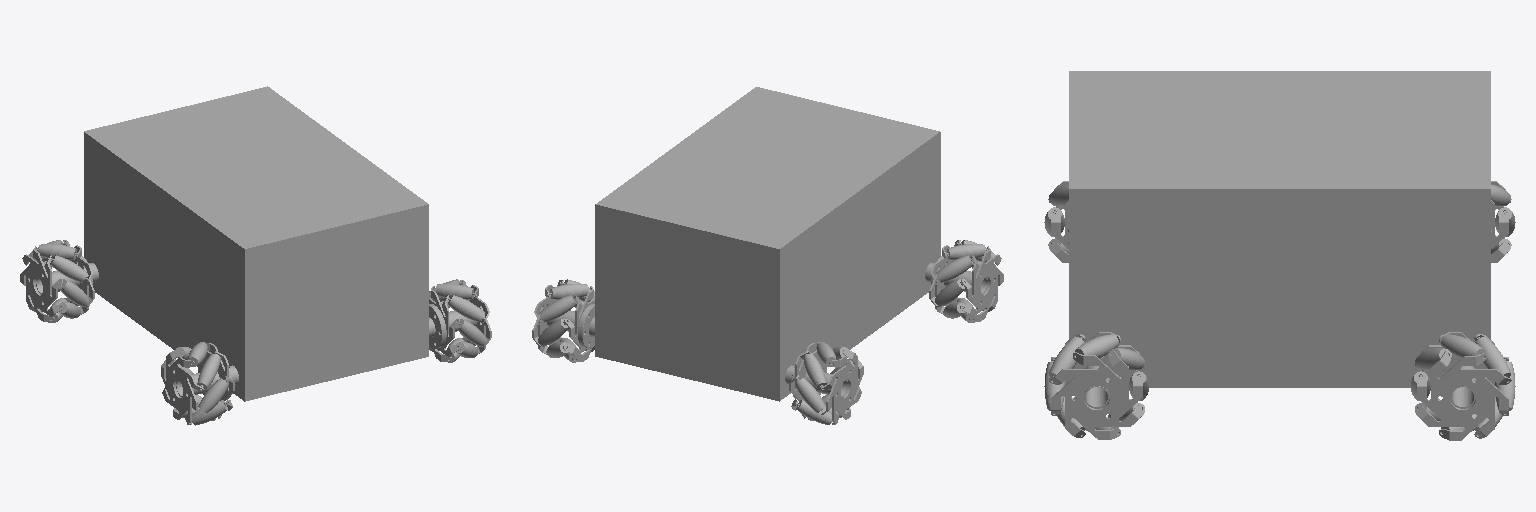
--- Facts derived from the render (not from the file) ---
The picture shows the robot from 3 angles, left to right: view 1: azimuth 30°, elevation 25°; view 2: azimuth 150°, elevation 25°; view 3: azimuth 270°, elevation 25°; orthographic projection.
Model mecanum_simple with 81 links and 80 joints (36 continuous, 44 fixed), rooted at base_link, posed every joint at zero.
Visible links, largest first — view 1: base_link, FL_BotPlate1, BL_BotPlate1, BR_TopPlate1, BR_TopBase1, BL_TopPlate1, FL_TopPlate1, BR_BotPlate1, FL_Wheel3, BL_Wheel5, BR_Wheel8; view 2: base_link, BL_BotPlate1, FL_BotPlate1, FR_TopPlate1, FR_TopBase1, FL_TopPlate1, FR_BotPlate1, BL_TopPlate1, BL_Wheel1, FR_Wheel4; view 3: base_link, FR_BotPlate1, BR_BotPlate1, BL_TopPlate1, FL_TopPlate1, FR_Wheel3, BR_Wheel1, FR_Wheel4, BR_Wheel8, BR_MC1, FR_MC1.
Boxes of the visible links, left/top/right/bottom form: base_link: left=84, top=86, right=428, bottom=401; FL_BotPlate1: left=20, top=246, right=63, bottom=322; BL_BotPlate1: left=161, top=349, right=203, bottom=424; BR_TopPlate1: left=429, top=286, right=460, bottom=362; BR_TopBase1: left=429, top=304, right=446, bottom=348; BL_TopPlate1: left=198, top=342, right=234, bottom=418; FL_TopPlate1: left=63, top=240, right=94, bottom=314; BR_BotPlate1: left=460, top=280, right=491, bottom=353; FL_Wheel3: left=50, top=255, right=87, bottom=282; BL_Wheel5: left=198, top=378, right=228, bottom=413; BR_Wheel8: left=448, top=295, right=484, bottom=321; base_link: left=595, top=87, right=940, bottom=401; BL_BotPlate1: left=960, top=246, right=1003, bottom=322; FL_BotPlate1: left=820, top=349, right=863, bottom=424; FR_TopPlate1: left=563, top=286, right=594, bottom=362; FR_TopBase1: left=578, top=304, right=594, bottom=348; FL_TopPlate1: left=789, top=342, right=826, bottom=418; FR_BotPlate1: left=532, top=280, right=563, bottom=354; BL_TopPlate1: left=929, top=240, right=960, bottom=314; BL_Wheel1: left=936, top=255, right=973, bottom=282; FR_Wheel4: left=539, top=295, right=576, bottom=321; base_link: left=1069, top=71, right=1490, bottom=387; FR_BotPlate1: left=1415, top=351, right=1511, bottom=440; BR_BotPlate1: left=1049, top=350, right=1144, bottom=439; BL_TopPlate1: left=1048, top=200, right=1068, bottom=262; FL_TopPlate1: left=1491, top=200, right=1511, bottom=262; FR_Wheel3: left=1441, top=334, right=1484, bottom=358; BR_Wheel1: left=1075, top=334, right=1118, bottom=357; FR_Wheel4: left=1475, top=336, right=1510, bottom=377; BR_Wheel8: left=1049, top=336, right=1084, bottom=376; BR_MC1: left=1083, top=366, right=1110, bottom=410; FR_MC1: left=1449, top=366, right=1476, bottom=410.
Bounding box of the posed robot: 0.244 × 0.2573 × 0.1336 m (x, y, z).
Meshes: 81 distinct files referenced, 81 mesh visuals loaded (81 binary STL).

URDF robot description (mecanum_simple):
<?xml version="1.0" ?>
<robot name="mecanum_simple">

<material name="silver">
  <color rgba="0.700 0.700 0.700 1.000"/>
</material>

<link name="base_link">
  <inertial>
    <origin rpy="0 0 0" xyz="0.0005909191525296898 0.0002815302172865053 0.060434726896290675"/>
    <mass value="3.7505087999999995"/>
    <inertia ixx="0.021034103519999944" ixy="-4.488109950145317e-18" ixz="-3.0899761915836876e-18" iyy="0.0117215901696" iyz="-1.2034644114589099e-17" izz="0.023754472569600033"/>
  </inertial>
  <visual>
    <origin rpy="0 0 0" xyz="0 0 0"/>
    <geometry>
      <mesh filename="meshes/base_link.stl" scale="0.001 0.001 0.001"/>
    </geometry>
    <material name="silver"/>
  </visual>
  <collision>
    <origin rpy="0 0 0" xyz="0 0 0"/>
    <geometry>
      <mesh filename="meshes/base_link.stl" scale="0.001 0.001 0.001"/>
    </geometry>
  </collision>
</link>

<link name="BR_TopBase1">
  <inertial>
    <origin rpy="0 0 0" xyz="0.00994768220155505 -4.6978271343867117e-07 -2.731038689154919e-07"/>
    <mass value="0.03256785236020162"/>
    <inertia ixx="3.293257536155945e-06" ixy="-5.421010862427522e-20" ixz="4.1809546276472265e-18" iyy="2.085824973539546e-06" iyz="0.0" izz="2.0937591837579548e-06"/>
  </inertial>
  <visual>
    <origin rpy="0 0 0" xyz="-0.076591 0.099718 -0.015435"/>
    <geometry>
      <mesh filename="meshes/BR_TopBase1.stl" scale="0.001 0.001 0.001"/>
    </geometry>
    <material name="silver"/>
  </visual>
  <collision>
    <origin rpy="0 0 0" xyz="-0.076591 0.099718 -0.015435"/>
    <geometry>
      <mesh filename="meshes/BR_TopBase1.stl" scale="0.001 0.001 0.001"/>
    </geometry>
  </collision>
</link>

<link name="FR_TopBase1">
  <inertial>
    <origin rpy="0 0 0" xyz="0.009947682201554883 -4.697827135496935e-07 -2.731039464524271e-07"/>
    <mass value="0.03256785236020241"/>
    <inertia ixx="3.2932575078285613e-06" ixy="-5.421010862427522e-20" ixz="-4.2270332199778604e-17" iyy="2.085824987703292e-06" iyz="-2.0328790734103208e-20" izz="2.0937591412667706e-06"/>
  </inertial>
  <visual>
    <origin rpy="0 0 0" xyz="-0.076591 -0.100282 -0.015435"/>
    <geometry>
      <mesh filename="meshes/FR_TopBase1.stl" scale="0.001 0.001 0.001"/>
    </geometry>
    <material name="silver"/>
  </visual>
  <collision>
    <origin rpy="0 0 0" xyz="-0.076591 -0.100282 -0.015435"/>
    <geometry>
      <mesh filename="meshes/FR_TopBase1.stl" scale="0.001 0.001 0.001"/>
    </geometry>
  </collision>
</link>

<link name="BL_TopBase1">
  <inertial>
    <origin rpy="0 0 0" xyz="-0.00994784389649557 -4.697827135080601e-07 -2.7310347214780373e-07"/>
    <mass value="0.03256785236020241"/>
    <inertia ixx="3.2932575078286155e-06" ixy="-5.421010862427522e-20" ixz="-4.227710846335664e-17" iyy="2.0858249877032378e-06" iyz="6.776263578034403e-21" izz="2.093759141266879e-06"/>
  </inertial>
  <visual>
    <origin rpy="0 0 0" xyz="0.075409 0.099718 -0.015435"/>
    <geometry>
      <mesh filename="meshes/BL_TopBase1.stl" scale="0.001 0.001 0.001"/>
    </geometry>
    <material name="silver"/>
  </visual>
  <collision>
    <origin rpy="0 0 0" xyz="0.075409 0.099718 -0.015435"/>
    <geometry>
      <mesh filename="meshes/BL_TopBase1.stl" scale="0.001 0.001 0.001"/>
    </geometry>
  </collision>
</link>

<link name="BR_BotPlate1">
  <inertial>
    <origin rpy="0 0 0" xyz="0.00044518063342811887 -4.6978271343867117e-07 -2.731036140880827e-07"/>
    <mass value="0.01754644089903354"/>
    <inertia ixx="6.011200641298952e-06" ixy="2.710505431213761e-20" ixz="-5.082197683525802e-19" iyy="3.0246761850076347e-06" iyz="1.2536087619363645e-19" izz="3.0246761926018204e-06"/>
  </inertial>
  <visual>
    <origin rpy="0 0 0" xyz="-0.120591 0.099718 -0.015435"/>
    <geometry>
      <mesh filename="meshes/BR_BotPlate1.stl" scale="0.001 0.001 0.001"/>
    </geometry>
    <material name="silver"/>
  </visual>
  <collision>
    <origin rpy="0 0 0" xyz="-0.120591 0.099718 -0.015435"/>
    <geometry>
      <mesh filename="meshes/BR_BotPlate1.stl" scale="0.001 0.001 0.001"/>
    </geometry>
  </collision>
</link>

<link name="BR_MC1">
  <inertial>
    <origin rpy="0 0 0" xyz="0.015999919152529546 -4.6978271343867117e-07 -2.7310370931225847e-07"/>
    <mass value="0.013862723690121977"/>
    <inertia ixx="6.520210928174543e-07" ixy="0.0" ixz="1.061467808181199e-16" iyy="1.3461378726247722e-06" iyz="3.3881317890172014e-21" izz="1.3461378573305827e-06"/>
  </inertial>
  <visual>
    <origin rpy="0 0 0" xyz="-0.090591 0.099718 -0.015435"/>
    <geometry>
      <mesh filename="meshes/BR_MC1.stl" scale="0.001 0.001 0.001"/>
    </geometry>
    <material name="silver"/>
  </visual>
  <collision>
    <origin rpy="0 0 0" xyz="-0.090591 0.099718 -0.015435"/>
    <geometry>
      <mesh filename="meshes/BR_MC1.stl" scale="0.001 0.001 0.001"/>
    </geometry>
  </collision>
</link>

<link name="BR_TopPlate1">
  <inertial>
    <origin rpy="0 0 0" xyz="0.0010546576716314315 -4.6978293749555533e-07 -2.7310393341424544e-07"/>
    <mass value="0.017546440899036727"/>
    <inertia ixx="6.011200624552447e-06" ixy="1.1980434005964824e-17" ixz="1.1966881478808755e-17" iyy="3.02467618043138e-06" iyz="-1.2950849160447975e-14" izz="3.024676180431651e-06"/>
  </inertial>
  <visual>
    <origin rpy="0 0 0" xyz="-0.090591 0.099718 -0.015435"/>
    <geometry>
      <mesh filename="meshes/BR_TopPlate1.stl" scale="0.001 0.001 0.001"/>
    </geometry>
    <material name="silver"/>
  </visual>
  <collision>
    <origin rpy="0 0 0" xyz="-0.090591 0.099718 -0.015435"/>
    <geometry>
      <mesh filename="meshes/BR_TopPlate1.stl" scale="0.001 0.001 0.001"/>
    </geometry>
  </collision>
</link>

<link name="FR_BotPlate1">
  <inertial>
    <origin rpy="0 0 0" xyz="-0.001054819366572285 -4.697827134941823e-07 -2.7310339236787107e-07"/>
    <mass value="0.017546440899036706"/>
    <inertia ixx="6.011200624552447e-06" ixy="-2.710505431213761e-20" ixz="1.691355389077387e-17" iyy="3.0246761933822833e-06" iyz="-1.1180834903756764e-19" izz="3.0246761674806934e-06"/>
  </inertial>
  <visual>
    <origin rpy="0 0 0" xyz="-0.122591 -0.100282 -0.015435"/>
    <geometry>
      <mesh filename="meshes/FR_BotPlate1.stl" scale="0.001 0.001 0.001"/>
    </geometry>
    <material name="silver"/>
  </visual>
  <collision>
    <origin rpy="0 0 0" xyz="-0.122591 -0.100282 -0.015435"/>
    <geometry>
      <mesh filename="meshes/FR_BotPlate1.stl" scale="0.001 0.001 0.001"/>
    </geometry>
  </collision>
</link>

<link name="FR_MC1">
  <inertial>
    <origin rpy="0 0 0" xyz="0.015999919152529546 -4.697827135080601e-07 -2.731037093226668e-07"/>
    <mass value="0.013862723690121977"/>
    <inertia ixx="6.520210928174272e-07" ixy="0.0" ixz="-1.0614339268633088e-16" iyy="1.3461378726247722e-06" iyz="0.0" izz="1.3461378573306369e-06"/>
  </inertial>
  <visual>
    <origin rpy="0 0 0" xyz="-0.090591 -0.100282 -0.015435"/>
    <geometry>
      <mesh filename="meshes/FR_MC1.stl" scale="0.001 0.001 0.001"/>
    </geometry>
    <material name="silver"/>
  </visual>
  <collision>
    <origin rpy="0 0 0" xyz="-0.090591 -0.100282 -0.015435"/>
    <geometry>
      <mesh filename="meshes/FR_MC1.stl" scale="0.001 0.001 0.001"/>
    </geometry>
  </collision>
</link>

<link name="FR_TopPlate1">
  <inertial>
    <origin rpy="0 0 0" xyz="0.0010546576716310013 -4.697826461314003e-07 -2.7310377668718355e-07"/>
    <mass value="0.017546440899033542"/>
    <inertia ixx="6.011200641298952e-06" ixy="3.7947076036992655e-19" ixz="-3.6253010142484055e-19" iyy="3.024676188804592e-06" iyz="-3.7970657434244215e-15" izz="3.02467618880489e-06"/>
  </inertial>
  <visual>
    <origin rpy="0 0 0" xyz="-0.090591 -0.100282 -0.015435"/>
    <geometry>
      <mesh filename="meshes/FR_TopPlate1.stl" scale="0.001 0.001 0.001"/>
    </geometry>
    <material name="silver"/>
  </visual>
  <collision>
    <origin rpy="0 0 0" xyz="-0.090591 -0.100282 -0.015435"/>
    <geometry>
      <mesh filename="meshes/FR_TopPlate1.stl" scale="0.001 0.001 0.001"/>
    </geometry>
  </collision>
</link>

<link name="BL_BotPlate1">
  <inertial>
    <origin rpy="0 0 0" xyz="0.0010546576716316675 -4.697827134941823e-07 -2.731040262445028e-07"/>
    <mass value="0.017546440899036706"/>
    <inertia ixx="6.011200624552474e-06" ixy="0.0" ixz="1.6906777627195835e-17" iyy="3.0246761933822833e-06" iyz="1.0164395367051604e-19" izz="3.0246761674806934e-06"/>
  </inertial>
  <visual>
    <origin rpy="0 0 0" xyz="0.121409 0.099718 -0.015435"/>
    <geometry>
      <mesh filename="meshes/BL_BotPlate1.stl" scale="0.001 0.001 0.001"/>
    </geometry>
    <material name="silver"/>
  </visual>
  <collision>
    <origin rpy="0 0 0" xyz="0.121409 0.099718 -0.015435"/>
    <geometry>
      <mesh filename="meshes/BL_BotPlate1.stl" scale="0.001 0.001 0.001"/>
    </geometry>
  </collision>
</link>

<link name="BL_MC1">
  <inertial>
    <origin rpy="0 0 0" xyz="-0.01600008084747015 -4.697827134941823e-07 -2.7310370928797234e-07"/>
    <mass value="0.013862723690121977"/>
    <inertia ixx="6.520210928175085e-07" ixy="-2.710505431213761e-20" ixz="-1.0614339268633088e-16" iyy="1.3461378726247993e-06" iyz="3.3881317890172014e-21" izz="1.3461378573307453e-06"/>
  </inertial>
  <visual>
    <origin rpy="0 0 0" xyz="0.089409 0.099718 -0.015435"/>
    <geometry>
      <mesh filename="meshes/BL_MC1.stl" scale="0.001 0.001 0.001"/>
    </geometry>
    <material name="silver"/>
  </visual>
  <collision>
    <origin rpy="0 0 0" xyz="0.089409 0.099718 -0.015435"/>
    <geometry>
      <mesh filename="meshes/BL_MC1.stl" scale="0.001 0.001 0.001"/>
    </geometry>
  </collision>
</link>

<link name="BL_TopPlate1">
  <inertial>
    <origin rpy="0 0 0" xyz="-0.001054819366571591 -4.697826461314003e-07 -2.7310364192692504e-07"/>
    <mass value="0.017546440899033542"/>
    <inertia ixx="6.011200641299006e-06" ixy="-3.5236570605778894e-19" ixz="-3.6253010142484055e-19" iyy="3.024676188804565e-06" iyz="3.7970623552926325e-15" izz="3.0246761888047817e-06"/>
  </inertial>
  <visual>
    <origin rpy="0 0 0" xyz="0.089409 0.099718 -0.015435"/>
    <geometry>
      <mesh filename="meshes/BL_TopPlate1.stl" scale="0.001 0.001 0.001"/>
    </geometry>
    <material name="silver"/>
  </visual>
  <collision>
    <origin rpy="0 0 0" xyz="0.089409 0.099718 -0.015435"/>
    <geometry>
      <mesh filename="meshes/BL_TopPlate1.stl" scale="0.001 0.001 0.001"/>
    </geometry>
  </collision>
</link>

<link name="BL_Wheel1">
  <inertial>
    <origin rpy="0 0 0" xyz="2.8872954611902646e-07 -4.284775861340684e-07 -2.949242297045629e-07"/>
    <mass value="0.00200707511610326"/>
    <inertia ixx="6.836045282378799e-08" ixy="-2.8942271813506932e-08" ixz="2.8942271812901304e-08" iyy="8.882572947765241e-08" iyz="2.046527665846212e-08" izz="8.882572948038664e-08"/>
  </inertial>
  <visual>
    <origin rpy="0 0 0" xyz="0.105408 0.083435 -0.03172"/>
    <geometry>
      <mesh filename="meshes/BL_Wheel1.stl" scale="0.001 0.001 0.001"/>
    </geometry>
    <material name="silver"/>
  </visual>
  <collision>
    <origin rpy="0 0 0" xyz="0.105408 0.083435 -0.03172"/>
    <geometry>
      <mesh filename="meshes/BL_Wheel1.stl" scale="0.001 0.001 0.001"/>
    </geometry>
  </collision>
</link>

<link name="BL_Wheel4">
  <inertial>
    <origin rpy="0 0 0" xyz="2.8872953872216556e-07 -4.4796225126542133e-07 -2.3179864057365496e-07"/>
    <mass value="0.00200707511610326"/>
    <inertia ixx="6.836045281984082e-08" ixy="-2.8942271811308035e-08" ixz="-2.8942271809144713e-08" iyy="8.882572948144035e-08" iyz="-2.046527666463106e-08" izz="8.882572947974967e-08"/>
  </inertial>
  <visual>
    <origin rpy="0 0 0" xyz="0.105408 0.116003 -0.031718"/>
    <geometry>
      <mesh filename="meshes/BL_Wheel4.stl" scale="0.001 0.001 0.001"/>
    </geometry>
    <material name="silver"/>
  </visual>
  <collision>
    <origin rpy="0 0 0" xyz="0.105408 0.116003 -0.031718"/>
    <geometry>
      <mesh filename="meshes/BL_Wheel4.stl" scale="0.001 0.001 0.001"/>
    </geometry>
  </collision>
</link>

<link name="BL_Wheel3">
  <inertial>
    <origin rpy="0 0 0" xyz="2.88729535946608e-07 1.606402623283154e-07 -2.056763390989591e-07"/>
    <mass value="0.00200707511610326"/>
    <inertia ixx="6.836045282228366e-08" ixy="-4.093055332137624e-08" ixz="2.507217523872729e-18" iyy="6.836045281667969e-08" iyz="-4.424900116456465e-18" izz="1.0929100614034292e-07"/>
  </inertial>
  <visual>
    <origin rpy="0 0 0" xyz="0.105408 0.09972 -0.038464"/>
    <geometry>
      <mesh filename="meshes/BL_Wheel3.stl" scale="0.001 0.001 0.001"/>
    </geometry>
    <material name="silver"/>
  </visual>
  <collision>
    <origin rpy="0 0 0" xyz="0.105408 0.09972 -0.038464"/>
    <geometry>
      <mesh filename="meshes/BL_Wheel3.stl" scale="0.001 0.001 0.001"/>
    </geometry>
  </collision>
</link>

<link name="BL_Wheel7">
  <inertial>
    <origin rpy="0 0 0" xyz="2.8872954774272763e-07 -1.0020569084223663e-07 -3.405310417458826e-07"/>
    <mass value="0.00200707511610326"/>
    <inertia ixx="6.836045281808238e-08" ixy="4.093055332201321e-08" ixz="-3.4622471719019526e-18" iyy="6.836045282203294e-08" iyz="-3.089764433346874e-18" izz="1.0929100614064108e-07"/>
  </inertial>
  <visual>
    <origin rpy="0 0 0" xyz="0.105408 0.099717 0.007594"/>
    <geometry>
      <mesh filename="meshes/BL_Wheel7.stl" scale="0.001 0.001 0.001"/>
    </geometry>
    <material name="silver"/>
  </visual>
  <collision>
    <origin rpy="0 0 0" xyz="0.105408 0.099717 0.007594"/>
    <geometry>
      <mesh filename="meshes/BL_Wheel7.stl" scale="0.001 0.001 0.001"/>
    </geometry>
  </collision>
</link>

<link name="BL_Wheel8">
  <inertial>
    <origin rpy="0 0 0" xyz="2.8872955556979996e-07 -4.0235530036902833e-07 9.647331486277444e-08"/>
    <mass value="0.00200707511610326"/>
    <inertia ixx="6.836045281811965e-08" ixy="-4.099639464710814e-18" ixz="4.09305533213521e-08" iyy="1.0929100614194212e-07" iyz="-1.6237621598864937e-18" izz="6.836045282068107e-08"/>
  </inertial>
  <visual>
    <origin rpy="0 0 0" xyz="0.105408 0.076689 -0.015436"/>
    <geometry>
      <mesh filename="meshes/BL_Wheel8.stl" scale="0.001 0.001 0.001"/>
    </geometry>
    <material name="silver"/>
  </visual>
  <collision>
    <origin rpy="0 0 0" xyz="0.105408 0.076689 -0.015436"/>
    <geometry>
      <mesh filename="meshes/BL_Wheel8.stl" scale="0.001 0.001 0.001"/>
    </geometry>
  </collision>
</link>

<link name="BL_Wheel2">
  <inertial>
    <origin rpy="0 0 0" xyz="2.8872955896985797e-07 4.889121586332257e-07 -2.512831809383829e-07"/>
    <mass value="0.00200707511610326"/>
    <inertia ixx="6.83604528227309e-08" ixy="2.894227180948522e-08" ixz="-2.8942271815342876e-08" iyy="8.882572948094907e-08" iyz="2.0465276659479617e-08" izz="8.882572947638186e-08"/>
  </inertial>
  <visual>
    <origin rpy="0 0 0" xyz="0.105408 0.116002 0.00085"/>
    <geometry>
      <mesh filename="meshes/BL_Wheel2.stl" scale="0.001 0.001 0.001"/>
    </geometry>
    <material name="silver"/>
  </visual>
  <collision>
    <origin rpy="0 0 0" xyz="0.105408 0.116002 0.00085"/>
    <geometry>
      <mesh filename="meshes/BL_Wheel2.stl" scale="0.001 0.001 0.001"/>
    </geometry>
  </collision>
</link>

<link name="BL_Wheel5">
  <inertial>
    <origin rpy="0 0 0" xyz="2.887295618841934e-07 4.6278986785830423e-07 3.573192609920839e-07"/>
    <mass value="0.00200707511610326"/>
    <inertia ixx="6.83604528217856e-08" ixy="1.5788694136820158e-18" ixz="-4.093055332151177e-08" iyy="1.0929100614123061e-07" iyz="-4.381701436146496e-18" izz="6.83604528172184e-08"/>
  </inertial>
  <visual>
    <origin rpy="0 0 0" xyz="0.105408 0.122748 -0.015433"/>
    <geometry>
      <mesh filename="meshes/BL_Wheel5.stl" scale="0.001 0.001 0.001"/>
    </geometry>
    <material name="silver"/>
  </visual>
  <collision>
    <origin rpy="0 0 0" xyz="0.105408 0.122748 -0.015433"/>
    <geometry>
      <mesh filename="meshes/BL_Wheel5.stl" scale="0.001 0.001 0.001"/>
    </geometry>
  </collision>
</link>

<link name="BL_Wheel6">
  <inertial>
    <origin rpy="0 0 0" xyz="2.8872954931091765e-07 -4.91603187449674e-07 -3.1440884254755556e-07"/>
    <mass value="0.00200707511610326"/>
    <inertia ixx="6.836045281471457e-08" ixy="2.894227181135547e-08" ixz="2.8942271808835254e-08" iyy="8.882572948395773e-08" iyz="-2.046527666218324e-08" izz="8.88257294823653e-08"/>
  </inertial>
  <visual>
    <origin rpy="0 0 0" xyz="0.105408 0.083433 0.000848"/>
    <geometry>
      <mesh filename="meshes/BL_Wheel6.stl" scale="0.001 0.001 0.001"/>
    </geometry>
    <material name="silver"/>
  </visual>
  <collision>
    <origin rpy="0 0 0" xyz="0.105408 0.083433 0.000848"/>
    <geometry>
      <mesh filename="meshes/BL_Wheel6.stl" scale="0.001 0.001 0.001"/>
    </geometry>
  </collision>
</link>

<link name="BL_Roller6">
  <inertial>
    <origin rpy="0 0 0" xyz="-0.010941711270487112 0.007737508396761392 0.007736685591157984"/>
    <mass value="0.00027476500689675335"/>
    <inertia ixx="1.1002606496522147e-08" ixy="7.745045789260402e-09" ixz="7.74504579228148e-09" iyy="1.6479180894728568e-08" iyz="-5.476574400315639e-09" izz="1.6479180899001002e-08"/>
  </inertial>
  <visual>
    <origin rpy="0 0 0" xyz="0.094466 0.091171 0.008585"/>
    <geometry>
      <mesh filename="meshes/BL_Roller6.stl" scale="0.001 0.001 0.001"/>
    </geometry>
    <material name="silver"/>
  </visual>
  <collision>
    <origin rpy="0 0 0" xyz="0.094466 0.091171 0.008585"/>
    <geometry>
      <mesh filename="meshes/BL_Roller6.stl" scale="0.001 0.001 0.001"/>
    </geometry>
  </collision>
</link>

<link name="FR_Wheel1">
  <inertial>
    <origin rpy="0 0 0" xyz="-4.5042449572929577e-07 -4.2847758016661963e-07 -2.5128318168442243e-07"/>
    <mass value="0.00200707511610326"/>
    <inertia ixx="6.836045281745218e-08" ixy="2.8942271811379186e-08" ixz="2.8942271809163506e-08" iyy="8.882572948122689e-08" iyz="-2.0465276663854516e-08" izz="8.882572948359859e-08"/>
  </inertial>
  <visual>
    <origin rpy="0 0 0" xyz="-0.10659 -0.116565 0.00085"/>
    <geometry>
      <mesh filename="meshes/FR_Wheel1.stl" scale="0.001 0.001 0.001"/>
    </geometry>
    <material name="silver"/>
  </visual>
  <collision>
    <origin rpy="0 0 0" xyz="-0.10659 -0.116565 0.00085"/>
    <geometry>
      <mesh filename="meshes/FR_Wheel1.stl" scale="0.001 0.001 0.001"/>
    </geometry>
  </collision>
</link>

<link name="FR_Wheel8">
  <inertial>
    <origin rpy="0 0 0" xyz="-4.504244925235268e-07 1.606402632581272e-07 -3.40531079235859e-07"/>
    <mass value="0.00200707511610326"/>
    <inertia ixx="6.836045281957654e-08" ixy="4.0930553321427064e-08" ixz="-5.1243375726517035e-18" iyy="6.83604528194478e-08" iyz="-1.659549301907988e-18" izz="1.0929100614356165e-07"/>
  </inertial>
  <visual>
    <origin rpy="0 0 0" xyz="-0.10659 -0.10028 0.007594"/>
    <geometry>
      <mesh filename="meshes/FR_Wheel8.stl" scale="0.001 0.001 0.001"/>
    </geometry>
    <material name="silver"/>
  </visual>
  <collision>
    <origin rpy="0 0 0" xyz="-0.10659 -0.10028 0.007594"/>
    <geometry>
      <mesh filename="meshes/FR_Wheel8.stl" scale="0.001 0.001 0.001"/>
    </geometry>
  </collision>
</link>

<link name="FR_Wheel7">
  <inertial>
    <origin rpy="0 0 0" xyz="-4.5042450226573383e-07 -4.4796225638632503e-07 -3.1440884208579385e-07"/>
    <mass value="0.00200707511610326"/>
    <inertia ixx="6.836045282348984e-08" ixy="2.894227181097261e-08" ixz="-2.8942271814858823e-08" iyy="8.88257294785977e-08" iyz="2.0465276659587164e-08" izz="8.882572948027822e-08"/>
  </inertial>
  <visual>
    <origin rpy="0 0 0" xyz="-0.10659 -0.083997 0.000848"/>
    <geometry>
      <mesh filename="meshes/FR_Wheel7.stl" scale="0.001 0.001 0.001"/>
    </geometry>
    <material name="silver"/>
  </visual>
  <collision>
    <origin rpy="0 0 0" xyz="-0.10659 -0.083997 0.000848"/>
    <geometry>
      <mesh filename="meshes/FR_Wheel7.stl" scale="0.001 0.001 0.001"/>
    </geometry>
  </collision>
</link>

<link name="FR_Wheel6">
  <inertial>
    <origin rpy="0 0 0" xyz="-4.504245024045117e-07 4.6278985711689646e-07 9.647332033235756e-08"/>
    <mass value="0.00200707511610326"/>
    <inertia ixx="6.836045282228874e-08" ixy="3.3542504711270293e-18" ixz="-4.093055332256336e-08" iyy="1.0929100614094601e-07" iyz="-2.0006918214146574e-18" izz="6.836045281889214e-08"/>
  </inertial>
  <visual>
    <origin rpy="0 0 0" xyz="-0.10659 -0.077252 -0.015436"/>
    <geometry>
      <mesh filename="meshes/FR_Wheel6.stl" scale="0.001 0.001 0.001"/>
    </geometry>
    <material name="silver"/>
  </visual>
  <collision>
    <origin rpy="0 0 0" xyz="-0.10659 -0.077252 -0.015436"/>
    <geometry>
      <mesh filename="meshes/FR_Wheel6.stl" scale="0.001 0.001 0.001"/>
    </geometry>
  </collision>
</link>

<link name="FR_Wheel2">
  <inertial>
    <origin rpy="0 0 0" xyz="-4.5042449643706295e-07 -4.0235528905863127e-07 3.5731926674616166e-07"/>
    <mass value="0.00200707511610326"/>
    <inertia ixx="6.836045281892602e-08" ixy="-2.910405206765776e-18" ixz="4.093055332268914e-08" iyy="1.0929100614013963e-07" iyz="-2.8900764160316728e-18" izz="6.836045282237514e-08"/>
  </inertial>
  <visual>
    <origin rpy="0 0 0" xyz="-0.10659 -0.123311 -0.015433"/>
    <geometry>
      <mesh filename="meshes/FR_Wheel2.stl" scale="0.001 0.001 0.001"/>
    </geometry>
    <material name="silver"/>
  </visual>
  <collision>
    <origin rpy="0 0 0" xyz="-0.10659 -0.123311 -0.015433"/>
    <geometry>
      <mesh filename="meshes/FR_Wheel2.stl" scale="0.001 0.001 0.001"/>
    </geometry>
  </collision>
</link>

<link name="FR_Wheel4">
  <inertial>
    <origin rpy="0 0 0" xyz="-4.5042449700605225e-07 -4.91603179997302e-07 -2.3179856458582782e-07"/>
    <mass value="0.00200707511610326"/>
    <inertia ixx="6.83604528196748e-08" ixy="-2.894227181149777e-08" ixz="2.894227181363907e-08" iyy="8.882572947743219e-08" iyz="2.046527665774214e-08" izz="8.882572948364602e-08"/>
  </inertial>
  <visual>
    <origin rpy="0 0 0" xyz="-0.10659 -0.116567 -0.031718"/>
    <geometry>
      <mesh filename="meshes/FR_Wheel4.stl" scale="0.001 0.001 0.001"/>
    </geometry>
    <material name="silver"/>
  </visual>
  <collision>
    <origin rpy="0 0 0" xyz="-0.10659 -0.116567 -0.031718"/>
    <geometry>
      <mesh filename="meshes/FR_Wheel4.stl" scale="0.001 0.001 0.001"/>
    </geometry>
  </collision>
</link>

<link name="FR_Wheel5">
  <inertial>
    <origin rpy="0 0 0" xyz="-4.504244969366633e-07 4.889121533041552e-07 -2.9492417499138446e-07"/>
    <mass value="0.00200707511610326"/>
    <inertia ixx="6.836045281885826e-08" ixy="-2.894227180955976e-08" ixz="-2.8942271810975998e-08" iyy="8.882572948251777e-08" iyz="-2.0465276664240577e-08" izz="8.8825729480224e-08"/>
  </inertial>
  <visual>
    <origin rpy="0 0 0" xyz="-0.10659 -0.083998 -0.03172"/>
    <geometry>
      <mesh filename="meshes/FR_Wheel5.stl" scale="0.001 0.001 0.001"/>
    </geometry>
    <material name="silver"/>
  </visual>
  <collision>
    <origin rpy="0 0 0" xyz="-0.10659 -0.083998 -0.03172"/>
    <geometry>
      <mesh filename="meshes/FR_Wheel5.stl" scale="0.001 0.001 0.001"/>
    </geometry>
  </collision>
</link>

<link name="FR_Wheel3">
  <inertial>
    <origin rpy="0 0 0" xyz="-4.5042449686727437e-07 -1.002056898430359e-07 -2.0567628496170887e-07"/>
    <mass value="0.00200707511610326"/>
    <inertia ixx="6.836045281851267e-08" ixy="-4.0930553320973055e-08" ixz="1.1214716221646936e-18" iyy="6.836045281954266e-08" iyz="-3.884493096108221e-18" izz="1.0929100614314152e-07"/>
  </inertial>
  <visual>
    <origin rpy="0 0 0" xyz="-0.10659 -0.100283 -0.038464"/>
    <geometry>
      <mesh filename="meshes/FR_Wheel3.stl" scale="0.001 0.001 0.001"/>
    </geometry>
    <material name="silver"/>
  </visual>
  <collision>
    <origin rpy="0 0 0" xyz="-0.10659 -0.100283 -0.038464"/>
    <geometry>
      <mesh filename="meshes/FR_Wheel3.stl" scale="0.001 0.001 0.001"/>
    </geometry>
  </collision>
</link>

<link name="FR_Roller1">
  <inertial>
    <origin rpy="0 0 0" xyz="0.010941549575529688 -0.007737428477598951 -0.007737251283190282"/>
    <mass value="0.00027476500689675335"/>
    <inertia ixx="1.1002606497603808e-08" ixy="7.745045793033087e-09" ixz="7.745045790019532e-09" iyy="1.647918089846483e-08" iyz="-5.476574398720219e-09" izz="1.647918089418223e-08"/>
  </inertial>
  <visual>
    <origin rpy="0 0 0" xyz="-0.095648 -0.124302 -0.006887"/>
    <geometry>
      <mesh filename="meshes/FR_Roller1.stl" scale="0.001 0.001 0.001"/>
    </geometry>
    <material name="silver"/>
  </visual>
  <collision>
    <origin rpy="0 0 0" xyz="-0.095648 -0.124302 -0.006887"/>
    <geometry>
      <mesh filename="meshes/FR_Roller1.stl" scale="0.001 0.001 0.001"/>
    </geometry>
  </collision>
</link>

<link name="FR_Roller2">
  <inertial>
    <origin rpy="0 0 0" xyz="0.01094154957554834 -4.023552892390425e-07 -0.010941642680689362"/>
    <mass value="0.00027476500689675335"/>
    <inertia ixx="1.1002606495466744e-08" ixy="-5.505714157152952e-21" ixz="1.095314879744061e-08" iyy="2.1955755299315264e-08" iyz="5.61159327555974e-21" izz="1.1002606495466744e-08"/>
  </inertial>
  <visual>
    <origin rpy="0 0 0" xyz="-0.095648 -0.123311 -0.026375"/>
    <geometry>
      <mesh filename="meshes/FR_Roller2.stl" scale="0.001 0.001 0.001"/>
    </geometry>
    <material name="silver"/>
  </visual>
  <collision>
    <origin rpy="0 0 0" xyz="-0.095648 -0.123311 -0.026375"/>
    <geometry>
      <mesh filename="meshes/FR_Roller2.stl" scale="0.001 0.001 0.001"/>
    </geometry>
  </collision>
</link>

<link name="FR_Roller4">
  <inertial>
    <origin rpy="0 0 0" xyz="0.010941549575529716 0.007737508396839898 -0.007737231798522377"/>
    <mass value="0.00027476500689675335"/>
    <inertia ixx="1.1002606497601267e-08" ixy="-7.745045793039863e-09" ixz="7.745045790011508e-09" iyy="1.6479180898454666e-08" iyz="5.476574398720358e-09" izz="1.6479180894193243e-08"/>
  </inertial>
  <visual>
    <origin rpy="0 0 0" xyz="-0.095648 -0.108829 -0.039455"/>
    <geometry>
      <mesh filename="meshes/FR_Roller4.stl" scale="0.001 0.001 0.001"/>
    </geometry>
    <material name="silver"/>
  </visual>
  <collision>
    <origin rpy="0 0 0" xyz="-0.095648 -0.108829 -0.039455"/>
    <geometry>
      <mesh filename="meshes/FR_Roller4.stl" scale="0.001 0.001 0.001"/>
    </geometry>
  </collision>
</link>

<link name="FR_Roller3">
  <inertial>
    <origin rpy="0 0 0" xyz="0.010941549575504014 0.010941899794310733 -2.0567622230349691e-07"/>
    <mass value="0.00027476500689675335"/>
    <inertia ixx="1.1002606498670646e-08" ixy="-1.0953148800644619e-08" ixz="-5.717472393966527e-21" iyy="1.100260649867107e-08" iyz="-5.505714157152952e-21" izz="2.195575529290873e-08"/>
  </inertial>
  <visual>
    <origin rpy="0 0 0" xyz="-0.095648 -0.089341 -0.038464"/>
    <geometry>
      <mesh filename="meshes/FR_Roller3.stl" scale="0.001 0.001 0.001"/>
    </geometry>
    <material name="silver"/>
  </visual>
  <collision>
    <origin rpy="0 0 0" xyz="-0.095648 -0.089341 -0.038464"/>
    <geometry>
      <mesh filename="meshes/FR_Roller3.stl" scale="0.001 0.001 0.001"/>
    </geometry>
  </collision>
</link>

<link name="FR_Roller5">
  <inertial>
    <origin rpy="0 0 0" xyz="0.010941549575478465 0.007737488912135632 0.00773670507588026"/>
    <mass value="0.00027476500689675335"/>
    <inertia ixx="1.1002606497603384e-08" ixy="-7.745045793032663e-09" ixz="-7.74504579001945e-09" iyy="1.6479180898465677e-08" iyz="-5.476574398719723e-09" izz="1.647918089418308e-08"/>
  </inertial>
  <visual>
    <origin rpy="0 0 0" xyz="-0.095648 -0.076261 -0.023983"/>
    <geometry>
      <mesh filename="meshes/FR_Roller5.stl" scale="0.001 0.001 0.001"/>
    </geometry>
    <material name="silver"/>
  </visual>
  <collision>
    <origin rpy="0 0 0" xyz="-0.095648 -0.076261 -0.023983"/>
    <geometry>
      <mesh filename="meshes/FR_Roller5.stl" scale="0.001 0.001 0.001"/>
    </geometry>
  </collision>
</link>

<link name="FR_Roller6">
  <inertial>
    <origin rpy="0 0 0" xyz="0.010941549575453902 4.627898568532185e-07 0.010942096473365364"/>
    <mass value="0.00027476500689675335"/>
    <inertia ixx="1.1002606495467591e-08" ixy="5.505714157152952e-21" ixz="-1.0953148797440452e-08" iyy="2.195575529931611e-08" iyz="5.929230630780102e-21" izz="1.1002606495468438e-08"/>
  </inertial>
  <visual>
    <origin rpy="0 0 0" xyz="-0.095648 -0.077252 -0.004494"/>
    <geometry>
      <mesh filename="meshes/FR_Roller6.stl" scale="0.001 0.001 0.001"/>
    </geometry>
    <material name="silver"/>
  </visual>
  <collision>
    <origin rpy="0 0 0" xyz="-0.095648 -0.077252 -0.004494"/>
    <geometry>
      <mesh filename="meshes/FR_Roller6.stl" scale="0.001 0.001 0.001"/>
    </geometry>
  </collision>
</link>

<link name="FR_Roller7">
  <inertial>
    <origin rpy="0 0 0" xyz="0.01094154957547265 -0.007737447962238644 0.0077366855912127065"/>
    <mass value="0.00027476500689675335"/>
    <inertia ixx="1.1002606497603384e-08" ixy="7.745045793040287e-09" ixz="-7.745045790011383e-09" iyy="1.6479180898453395e-08" iyz="5.47657439872056e-09" izz="1.647918089419155e-08"/>
  </inertial>
  <visual>
    <origin rpy="0 0 0" xyz="-0.095648 -0.091734 0.008585"/>
    <geometry>
      <mesh filename="meshes/FR_Roller7.stl" scale="0.001 0.001 0.001"/>
    </geometry>
    <material name="silver"/>
  </visual>
  <collision>
    <origin rpy="0 0 0" xyz="-0.095648 -0.091734 0.008585"/>
    <geometry>
      <mesh filename="meshes/FR_Roller7.stl" scale="0.001 0.001 0.001"/>
    </geometry>
  </collision>
</link>

<link name="FR_Roller8">
  <inertial>
    <origin rpy="0 0 0" xyz="0.010941549575504153 -0.010941839359737929 -3.4053107091525786e-07"/>
    <mass value="0.00027476500689675335"/>
    <inertia ixx="1.1002606498672764e-08" ixy="1.0953148800644195e-08" ixz="5.4527745979495584e-21" iyy="1.1002606498671916e-08" iyz="-5.61159327555974e-21" izz="2.1955755292909578e-08"/>
  </inertial>
  <visual>
    <origin rpy="0 0 0" xyz="-0.095648 -0.111222 0.007594"/>
    <geometry>
      <mesh filename="meshes/FR_Roller8.stl" scale="0.001 0.001 0.001"/>
    </geometry>
    <material name="silver"/>
  </visual>
  <collision>
    <origin rpy="0 0 0" xyz="-0.095648 -0.111222 0.007594"/>
    <geometry>
      <mesh filename="meshes/FR_Roller8.stl" scale="0.001 0.001 0.001"/>
    </geometry>
  </collision>
</link>

<link name="BL_Roller7">
  <inertial>
    <origin rpy="0 0 0" xyz="-0.010941711270490942 0.010941899794264617 -3.405311333878544e-07"/>
    <mass value="0.00027476500689675335"/>
    <inertia ixx="1.1002606495451497e-08" ixy="1.0953148797440716e-08" ixz="-1.5881867761018131e-22" iyy="1.1002606495482837e-08" iyz="1.0587911840678754e-22" izz="2.1955755299316535e-08"/>
  </inertial>
  <visual>
    <origin rpy="0 0 0" xyz="0.094466 0.110659 0.007594"/>
    <geometry>
      <mesh filename="meshes/BL_Roller7.stl" scale="0.001 0.001 0.001"/>
    </geometry>
    <material name="silver"/>
  </visual>
  <collision>
    <origin rpy="0 0 0" xyz="0.094466 0.110659 0.007594"/>
    <geometry>
      <mesh filename="meshes/BL_Roller7.stl" scale="0.001 0.001 0.001"/>
    </geometry>
  </collision>
</link>

<link name="BL_Roller2">
  <inertial>
    <origin rpy="0 0 0" xyz="-0.010941711270477023 0.0077374889121079315 -0.007737251283244552"/>
    <mass value="0.00027476500689675335"/>
    <inertia ixx="1.1002606496543746e-08" ixy="7.745045789258284e-09" ixz="-7.745045792282606e-09" iyy="1.647918089472052e-08" iyz="5.476574400326624e-09" izz="1.6479180898989144e-08"/>
  </inertial>
  <visual>
    <origin rpy="0 0 0" xyz="0.094466 0.123739 -0.006887"/>
    <geometry>
      <mesh filename="meshes/BL_Roller2.stl" scale="0.001 0.001 0.001"/>
    </geometry>
    <material name="silver"/>
  </visual>
  <collision>
    <origin rpy="0 0 0" xyz="0.094466 0.123739 -0.006887"/>
    <geometry>
      <mesh filename="meshes/BL_Roller2.stl" scale="0.001 0.001 0.001"/>
    </geometry>
  </collision>
</link>

<link name="BL_Roller5">
  <inertial>
    <origin rpy="0 0 0" xyz="-0.01094171127043879 4.6278980501968103e-07 -0.010941642680739584"/>
    <mass value="0.00027476500689675335"/>
    <inertia ixx="1.100260649867107e-08" ixy="5.505714157152952e-21" ixz="-1.0953148800644671e-08" iyy="2.1955755292907884e-08" iyz="5.505714157152952e-21" izz="1.1002606498670222e-08"/>
  </inertial>
  <visual>
    <origin rpy="0 0 0" xyz="0.094466 0.122748 -0.026375"/>
    <geometry>
      <mesh filename="meshes/BL_Roller5.stl" scale="0.001 0.001 0.001"/>
    </geometry>
    <material name="silver"/>
  </visual>
  <collision>
    <origin rpy="0 0 0" xyz="0.094466 0.122748 -0.026375"/>
    <geometry>
      <mesh filename="meshes/BL_Roller5.stl" scale="0.001 0.001 0.001"/>
    </geometry>
  </collision>
</link>

<link name="BL_Roller4">
  <inertial>
    <origin rpy="0 0 0" xyz="-0.010941711270406246 -0.00773744796230269 -0.007737231798576952"/>
    <mass value="0.00027476500689675335"/>
    <inertia ixx="1.1002606496528923e-08" ixy="-7.745045789262096e-09" ixz="-7.74504579228018e-09" iyy="1.6479180894724756e-08" iyz="-5.476574400318709e-09" izz="1.647918089900185e-08"/>
  </inertial>
  <visual>
    <origin rpy="0 0 0" xyz="0.094466 0.108266 -0.039455"/>
    <geometry>
      <mesh filename="meshes/BL_Roller4.stl" scale="0.001 0.001 0.001"/>
    </geometry>
    <material name="silver"/>
  </visual>
  <collision>
    <origin rpy="0 0 0" xyz="0.094466 0.108266 -0.039455"/>
    <geometry>
      <mesh filename="meshes/BL_Roller4.stl" scale="0.001 0.001 0.001"/>
    </geometry>
  </collision>
</link>

<link name="BL_Roller3">
  <inertial>
    <origin rpy="0 0 0" xyz="-0.010941711270400278 -0.010941839359782296 -2.0567628494089218e-07"/>
    <mass value="0.00027476500689675335"/>
    <inertia ixx="1.1002606495467591e-08" ixy="-1.0953148797440716e-08" ixz="5.505714157152952e-21" iyy="1.1002606495468861e-08" iyz="5.082197683525802e-21" izz="2.195575529931823e-08"/>
  </inertial>
  <visual>
    <origin rpy="0 0 0" xyz="0.094466 0.088778 -0.038464"/>
    <geometry>
      <mesh filename="meshes/BL_Roller3.stl" scale="0.001 0.001 0.001"/>
    </geometry>
    <material name="silver"/>
  </visual>
  <collision>
    <origin rpy="0 0 0" xyz="0.094466 0.088778 -0.038464"/>
    <geometry>
      <mesh filename="meshes/BL_Roller3.stl" scale="0.001 0.001 0.001"/>
    </geometry>
  </collision>
</link>

<link name="BL_Roller1">
  <inertial>
    <origin rpy="0 0 0" xyz="-0.010941711270398793 -0.007737428477637684 0.007736705075833964"/>
    <mass value="0.00027476500689675335"/>
    <inertia ixx="1.1002606496542899e-08" ixy="-7.745045789258708e-09" ixz="7.745045792282192e-09" iyy="1.6479180894720098e-08" iyz="5.476574400326015e-09" izz="1.647918089898745e-08"/>
  </inertial>
  <visual>
    <origin rpy="0 0 0" xyz="0.094466 0.075698 -0.023983"/>
    <geometry>
      <mesh filename="meshes/BL_Roller1.stl" scale="0.001 0.001 0.001"/>
    </geometry>
    <material name="silver"/>
  </visual>
  <collision>
    <origin rpy="0 0 0" xyz="0.094466 0.075698 -0.023983"/>
    <geometry>
      <mesh filename="meshes/BL_Roller1.stl" scale="0.001 0.001 0.001"/>
    </geometry>
  </collision>
</link>

<link name="BL_Roller8">
  <inertial>
    <origin rpy="0 0 0" xyz="-0.010941711270444687 -4.0235536319377374e-07 0.010942096473315113"/>
    <mass value="0.00027476500689675335"/>
    <inertia ixx="1.100260649867107e-08" ixy="-5.929230630780102e-21" ixz="1.0953148800644724e-08" iyy="2.1955755292908307e-08" iyz="5.558653716356346e-21" izz="1.1002606498671916e-08"/>
  </inertial>
  <visual>
    <origin rpy="0 0 0" xyz="0.094466 0.076689 -0.004494"/>
    <geometry>
      <mesh filename="meshes/BL_Roller8.stl" scale="0.001 0.001 0.001"/>
    </geometry>
    <material name="silver"/>
  </visual>
  <collision>
    <origin rpy="0 0 0" xyz="0.094466 0.076689 -0.004494"/>
    <geometry>
      <mesh filename="meshes/BL_Roller8.stl" scale="0.001 0.001 0.001"/>
    </geometry>
  </collision>
</link>

<link name="FL_BotPlate1">
  <inertial>
    <origin rpy="0 0 0" xyz="0.00105465767163114 -4.697827135496935e-07 -2.7310361414185913e-07"/>
    <mass value="0.01754644089903354"/>
    <inertia ixx="6.011200641298952e-06" ixy="2.710505431213761e-20" ixz="5.149960319306146e-19" iyy="3.0246761850076347e-06" iyz="-1.2536087619363645e-19" izz="3.024676192601766e-06"/>
  </inertial>
  <visual>
    <origin rpy="0 0 0" xyz="0.121409 -0.100282 -0.015435"/>
    <geometry>
      <mesh filename="meshes/FL_BotPlate1.stl" scale="0.001 0.001 0.001"/>
    </geometry>
    <material name="silver"/>
  </visual>
  <collision>
    <origin rpy="0 0 0" xyz="0.121409 -0.100282 -0.015435"/>
    <geometry>
      <mesh filename="meshes/FL_BotPlate1.stl" scale="0.001 0.001 0.001"/>
    </geometry>
  </collision>
</link>

<link name="FL_MC1">
  <inertial>
    <origin rpy="0 0 0" xyz="-0.016000080847470288 -4.697827135496935e-07 -2.7310370938511686e-07"/>
    <mass value="0.013862723690121977"/>
    <inertia ixx="6.520210928174272e-07" ixy="0.0" ixz="-1.0614339268633088e-16" iyy="1.3461378726247993e-06" iyz="0.0" izz="1.3461378573306369e-06"/>
  </inertial>
  <visual>
    <origin rpy="0 0 0" xyz="0.089409 -0.100282 -0.015435"/>
    <geometry>
      <mesh filename="meshes/FL_MC1.stl" scale="0.001 0.001 0.001"/>
    </geometry>
    <material name="silver"/>
  </visual>
  <collision>
    <origin rpy="0 0 0" xyz="0.089409 -0.100282 -0.015435"/>
    <geometry>
      <mesh filename="meshes/FL_MC1.stl" scale="0.001 0.001 0.001"/>
    </geometry>
  </collision>
</link>

<link name="FL_TopPlate1">
  <inertial>
    <origin rpy="0 0 0" xyz="-0.0010548193665722155 -4.697824894928093e-07 -2.731039334472052e-07"/>
    <mass value="0.017546440899036727"/>
    <inertia ixx="6.0112006245524195e-06" ixy="1.1980434005964824e-17" ixz="-1.1966881478808755e-17" iyy="3.0246761804313257e-06" iyz="1.2950862712975131e-14" izz="3.0246761804315968e-06"/>
  </inertial>
  <visual>
    <origin rpy="0 0 0" xyz="0.089409 -0.100282 -0.015435"/>
    <geometry>
      <mesh filename="meshes/FL_TopPlate1.stl" scale="0.001 0.001 0.001"/>
    </geometry>
    <material name="silver"/>
  </visual>
  <collision>
    <origin rpy="0 0 0" xyz="0.089409 -0.100282 -0.015435"/>
    <geometry>
      <mesh filename="meshes/FL_TopPlate1.stl" scale="0.001 0.001 0.001"/>
    </geometry>
  </collision>
</link>

<link name="FL_TopBase1">
  <inertial>
    <origin rpy="0 0 0" xyz="-0.009947843896495764 -4.697827135496935e-07 -2.7310386894151273e-07"/>
    <mass value="0.03256785236020162"/>
    <inertia ixx="3.293257536155945e-06" ixy="0.0" ixz="-4.1809546276472265e-18" iyy="2.085824973539546e-06" iyz="0.0" izz="2.093759183757738e-06"/>
  </inertial>
  <visual>
    <origin rpy="0 0 0" xyz="0.075409 -0.100282 -0.015435"/>
    <geometry>
      <mesh filename="meshes/FL_TopBase1.stl" scale="0.001 0.001 0.001"/>
    </geometry>
    <material name="silver"/>
  </visual>
  <collision>
    <origin rpy="0 0 0" xyz="0.075409 -0.100282 -0.015435"/>
    <geometry>
      <mesh filename="meshes/FL_TopBase1.stl" scale="0.001 0.001 0.001"/>
    </geometry>
  </collision>
</link>

<link name="BR_Wheel1">
  <inertial>
    <origin rpy="0 0 0" xyz="-4.5042447753551595e-07 1.6064021685080476e-07 -2.056763269281392e-07"/>
    <mass value="0.00200707511610326"/>
    <inertia ixx="6.836045281920724e-08" ixy="4.093055332183364e-08" ixz="3.935315072943479e-18" iyy="6.836045282046085e-08" iyz="1.751664134921893e-18" izz="1.0929100613974661e-07"/>
  </inertial>
  <visual>
    <origin rpy="0 0 0" xyz="-0.10659 0.09972 -0.038464"/>
    <geometry>
      <mesh filename="meshes/BR_Wheel1.stl" scale="0.001 0.001 0.001"/>
    </geometry>
    <material name="silver"/>
  </visual>
  <collision>
    <origin rpy="0 0 0" xyz="-0.10659 0.09972 -0.038464"/>
    <geometry>
      <mesh filename="meshes/BR_Wheel1.stl" scale="0.001 0.001 0.001"/>
    </geometry>
  </collision>
</link>

<link name="BR_Roller1">
  <inertial>
    <origin rpy="0 0 0" xyz="0.010941549575542442 -0.010941839359699432 -2.0567627961182167e-07"/>
    <mass value="0.00027476500689675335"/>
    <inertia ixx="1.1002606495468014e-08" ixy="1.0953148797440293e-08" ixz="-5.505714157152952e-21" iyy="1.1002606495467591e-08" iyz="5.293955920339377e-21" izz="2.1955755299316535e-08"/>
  </inertial>
  <visual>
    <origin rpy="0 0 0" xyz="-0.095648 0.088778 -0.038464"/>
    <geometry>
      <mesh filename="meshes/BR_Roller1.stl" scale="0.001 0.001 0.001"/>
    </geometry>
    <material name="silver"/>
  </visual>
  <collision>
    <origin rpy="0 0 0" xyz="-0.095648 0.088778 -0.038464"/>
    <geometry>
      <mesh filename="meshes/BR_Roller1.stl" scale="0.001 0.001 0.001"/>
    </geometry>
  </collision>
</link>

<link name="BR_Roller2">
  <inertial>
    <origin rpy="0 0 0" xyz="0.010941549575540221 -0.007737428477529687 0.007736705075825943"/>
    <mass value="0.00027476500689675335"/>
    <inertia ixx="1.10026064965357e-08" ixy="7.74504578925659e-09" ixz="-7.745045792284839e-09" iyy="1.647918089472645e-08" iyz="5.476574400321992e-09" izz="1.6479180898988297e-08"/>
  </inertial>
  <visual>
    <origin rpy="0 0 0" xyz="-0.095648 0.075698 -0.023983"/>
    <geometry>
      <mesh filename="meshes/BR_Roller2.stl" scale="0.001 0.001 0.001"/>
    </geometry>
    <material name="silver"/>
  </visual>
  <collision>
    <origin rpy="0 0 0" xyz="-0.095648 0.075698 -0.023983"/>
    <geometry>
      <mesh filename="meshes/BR_Roller2.stl" scale="0.001 0.001 0.001"/>
    </geometry>
  </collision>
</link>

<link name="BR_Roller3">
  <inertial>
    <origin rpy="0 0 0" xyz="0.010941549575542442 -4.0235528375731633e-07 0.010942096473276715"/>
    <mass value="0.00027476500689675335"/>
    <inertia ixx="1.1002606495467379e-08" ixy="-6.3527471044072525e-21" ixz="-1.0953148797440452e-08" iyy="2.1955755299315264e-08" iyz="-5.4527745979495584e-21" izz="1.1002606495466744e-08"/>
  </inertial>
  <visual>
    <origin rpy="0 0 0" xyz="-0.095648 0.076689 -0.004494"/>
    <geometry>
      <mesh filename="meshes/BR_Roller3.stl" scale="0.001 0.001 0.001"/>
    </geometry>
    <material name="silver"/>
  </visual>
  <collision>
    <origin rpy="0 0 0" xyz="-0.095648 0.076689 -0.004494"/>
    <geometry>
      <mesh filename="meshes/BR_Roller3.stl" scale="0.001 0.001 0.001"/>
    </geometry>
  </collision>
</link>

<link name="BR_Roller4">
  <inertial>
    <origin rpy="0 0 0" xyz="0.010941549575534254 0.007737508396778628 0.007736685591158421"/>
    <mass value="0.00027476500689675335"/>
    <inertia ixx="1.1002606496535276e-08" ixy="-7.745045789264214e-09" ixz="-7.745045792277163e-09" iyy="1.6479180894715862e-08" iyz="-5.476574400322458e-09" izz="1.6479180898999308e-08"/>
  </inertial>
  <visual>
    <origin rpy="0 0 0" xyz="-0.095648 0.091171 0.008585"/>
    <geometry>
      <mesh filename="meshes/BR_Roller4.stl" scale="0.001 0.001 0.001"/>
    </geometry>
    <material name="silver"/>
  </visual>
  <collision>
    <origin rpy="0 0 0" xyz="-0.095648 0.091171 0.008585"/>
    <geometry>
      <mesh filename="meshes/BR_Roller4.stl" scale="0.001 0.001 0.001"/>
    </geometry>
  </collision>
</link>

<link name="BR_Roller5">
  <inertial>
    <origin rpy="0 0 0" xyz="0.010941549575542442 0.010941899794272583 -3.405311390074911e-07"/>
    <mass value="0.00027476500689675335"/>
    <inertia ixx="1.1002606495467591e-08" ixy="-1.0953148797440716e-08" ixz="5.532183936754649e-21" iyy="1.100260649546632e-08" iyz="5.293955920339377e-21" izz="2.1955755299316535e-08"/>
  </inertial>
  <visual>
    <origin rpy="0 0 0" xyz="-0.095648 0.110659 0.007594"/>
    <geometry>
      <mesh filename="meshes/BR_Roller5.stl" scale="0.001 0.001 0.001"/>
    </geometry>
    <material name="silver"/>
  </visual>
  <collision>
    <origin rpy="0 0 0" xyz="-0.095648 0.110659 0.007594"/>
    <geometry>
      <mesh filename="meshes/BR_Roller5.stl" scale="0.001 0.001 0.001"/>
    </geometry>
  </collision>
</link>

<link name="BR_Roller6">
  <inertial>
    <origin rpy="0 0 0" xyz="0.010941549575534268 0.0077374889121030604 -0.00773725128325259"/>
    <mass value="0.00027476500689675335"/>
    <inertia ixx="1.10026064965357e-08" ixy="-7.74504578925659e-09" ixz="7.745045792285011e-09" iyy="1.6479180894726874e-08" iyz="5.476574400322187e-09" izz="1.6479180898988297e-08"/>
  </inertial>
  <visual>
    <origin rpy="0 0 0" xyz="-0.095648 0.123739 -0.006887"/>
    <geometry>
      <mesh filename="meshes/BR_Roller6.stl" scale="0.001 0.001 0.001"/>
    </geometry>
    <material name="silver"/>
  </visual>
  <collision>
    <origin rpy="0 0 0" xyz="-0.095648 0.123739 -0.006887"/>
    <geometry>
      <mesh filename="meshes/BR_Roller6.stl" scale="0.001 0.001 0.001"/>
    </geometry>
  </collision>
</link>

<link name="BR_Roller7">
  <inertial>
    <origin rpy="0 0 0" xyz="0.010941549575542442 4.627898568532185e-07 -0.010941642680695304"/>
    <mass value="0.00027476500689675335"/>
    <inertia ixx="1.1002606495466744e-08" ixy="5.505714157152952e-21" ixz="1.0953148797440399e-08" iyy="2.1955755299315688e-08" iyz="-5.399835038746165e-21" izz="1.1002606495467591e-08"/>
  </inertial>
  <visual>
    <origin rpy="0 0 0" xyz="-0.095648 0.122748 -0.026375"/>
    <geometry>
      <mesh filename="meshes/BR_Roller7.stl" scale="0.001 0.001 0.001"/>
    </geometry>
    <material name="silver"/>
  </visual>
  <collision>
    <origin rpy="0 0 0" xyz="-0.095648 0.122748 -0.026375"/>
    <geometry>
      <mesh filename="meshes/BR_Roller7.stl" scale="0.001 0.001 0.001"/>
    </geometry>
  </collision>
</link>

<link name="BR_Roller8">
  <inertial>
    <origin rpy="0 0 0" xyz="0.010941549575534282 -0.007737447962205435 -0.007737231798577056"/>
    <mass value="0.00027476500689675335"/>
    <inertia ixx="1.1002606496536546e-08" ixy="7.745045789264214e-09" ixz="7.745045792277004e-09" iyy="1.647918089471671e-08" iyz="-5.476574400322521e-09" izz="1.6479180899000155e-08"/>
  </inertial>
  <visual>
    <origin rpy="0 0 0" xyz="-0.095648 0.108266 -0.039455"/>
    <geometry>
      <mesh filename="meshes/BR_Roller8.stl" scale="0.001 0.001 0.001"/>
    </geometry>
    <material name="silver"/>
  </visual>
  <collision>
    <origin rpy="0 0 0" xyz="-0.095648 0.108266 -0.039455"/>
    <geometry>
      <mesh filename="meshes/BR_Roller8.stl" scale="0.001 0.001 0.001"/>
    </geometry>
  </collision>
</link>

<link name="BR_Wheel2">
  <inertial>
    <origin rpy="0 0 0" xyz="-4.50424496367674e-07 -4.2847758126296487e-07 -2.9492417417953387e-07"/>
    <mass value="0.00200707511610326"/>
    <inertia ixx="6.8360452816307e-08" ixy="2.894227181166379e-08" ixz="-2.8942271808456075e-08" iyy="8.88257294827956e-08" iyz="2.0465276662596486e-08" izz="8.882572948072545e-08"/>
  </inertial>
  <visual>
    <origin rpy="0 0 0" xyz="-0.10659 0.083435 -0.03172"/>
    <geometry>
      <mesh filename="meshes/BR_Wheel2.stl" scale="0.001 0.001 0.001"/>
    </geometry>
    <material name="silver"/>
  </visual>
  <collision>
    <origin rpy="0 0 0" xyz="-0.10659 0.083435 -0.03172"/>
    <geometry>
      <mesh filename="meshes/BR_Wheel2.stl" scale="0.001 0.001 0.001"/>
    </geometry>
  </collision>
</link>

<link name="BR_Wheel3">
  <inertial>
    <origin rpy="0 0 0" xyz="-4.5042447753551595e-07 -4.0235533108057275e-07 9.647336047906296e-08"/>
    <mass value="0.00200707511610326"/>
    <inertia ixx="6.836045281929363e-08" ixy="3.933621007048971e-18" ixz="-4.093055332182009e-08" iyy="1.092910061397195e-07" iyz="-1.751664134921893e-18" izz="6.83604528204439e-08"/>
  </inertial>
  <visual>
    <origin rpy="0 0 0" xyz="-0.10659 0.076689 -0.015436"/>
    <geometry>
      <mesh filename="meshes/BR_Wheel3.stl" scale="0.001 0.001 0.001"/>
    </geometry>
    <material name="silver"/>
  </visual>
  <collision>
    <origin rpy="0 0 0" xyz="-0.10659 0.076689 -0.015436"/>
    <geometry>
      <mesh filename="meshes/BR_Wheel3.stl" scale="0.001 0.001 0.001"/>
    </geometry>
  </collision>
</link>

<link name="BR_Wheel4">
  <inertial>
    <origin rpy="0 0 0" xyz="-4.504245024045117e-07 -4.91603170185706e-07 -3.1440884169493897e-07"/>
    <mass value="0.00200707511610326"/>
    <inertia ixx="6.836045282205496e-08" ixy="-2.8942271811924675e-08" ixz="-2.8942271813797994e-08" iyy="8.882572947990552e-08" iyz="-2.0465276657759055e-08" izz="8.882572947787264e-08"/>
  </inertial>
  <visual>
    <origin rpy="0 0 0" xyz="-0.10659 0.083433 0.000848"/>
    <geometry>
      <mesh filename="meshes/BR_Wheel4.stl" scale="0.001 0.001 0.001"/>
    </geometry>
    <material name="silver"/>
  </visual>
  <collision>
    <origin rpy="0 0 0" xyz="-0.10659 0.083433 0.000848"/>
    <geometry>
      <mesh filename="meshes/BR_Wheel4.stl" scale="0.001 0.001 0.001"/>
    </geometry>
  </collision>
</link>

<link name="BR_Wheel5">
  <inertial>
    <origin rpy="0 0 0" xyz="-4.5042447753551595e-07 -1.0020564372714702e-07 -3.405310916885715e-07"/>
    <mass value="0.00200707511610326"/>
    <inertia ixx="6.836045281920724e-08" ixy="-4.093055332183364e-08" ixz="-3.935526831180293e-18" iyy="6.836045282042696e-08" iyz="1.7518758931587067e-18" izz="1.0929100613978727e-07"/>
  </inertial>
  <visual>
    <origin rpy="0 0 0" xyz="-0.10659 0.099717 0.007594"/>
    <geometry>
      <mesh filename="meshes/BR_Wheel5.stl" scale="0.001 0.001 0.001"/>
    </geometry>
    <material name="silver"/>
  </visual>
  <collision>
    <origin rpy="0 0 0" xyz="-0.10659 0.099717 0.007594"/>
    <geometry>
      <mesh filename="meshes/BR_Wheel5.stl" scale="0.001 0.001 0.001"/>
    </geometry>
  </collision>
</link>

<link name="BR_Wheel6">
  <inertial>
    <origin rpy="0 0 0" xyz="-4.504245025432896e-07 4.889121541923336e-07 -2.512832520282183e-07"/>
    <mass value="0.00200707511610326"/>
    <inertia ixx="6.836045281606305e-08" ixy="-2.8942271811565533e-08" ixz="2.8942271808248287e-08" iyy="8.882572948248389e-08" iyz="2.0465276662671528e-08" izz="8.882572948043407e-08"/>
  </inertial>
  <visual>
    <origin rpy="0 0 0" xyz="-0.10659 0.116002 0.00085"/>
    <geometry>
      <mesh filename="meshes/BR_Wheel6.stl" scale="0.001 0.001 0.001"/>
    </geometry>
    <material name="silver"/>
  </visual>
  <collision>
    <origin rpy="0 0 0" xyz="-0.10659 0.116002 0.00085"/>
    <geometry>
      <mesh filename="meshes/BR_Wheel6.stl" scale="0.001 0.001 0.001"/>
    </geometry>
  </collision>
</link>

<link name="BR_Wheel7">
  <inertial>
    <origin rpy="0 0 0" xyz="-4.50424477466127e-07 4.6278990416259713e-07 3.573192209876258e-07"/>
    <mass value="0.00200707511610326"/>
    <inertia ixx="6.83604528192445e-08" ixy="-3.937009138837988e-18" ixz="4.093055332183703e-08" iyy="1.0929100613973983e-07" iyz="-1.7520876513955203e-18" izz="6.836045282034904e-08"/>
  </inertial>
  <visual>
    <origin rpy="0 0 0" xyz="-0.10659 0.122748 -0.015433"/>
    <geometry>
      <mesh filename="meshes/BR_Wheel7.stl" scale="0.001 0.001 0.001"/>
    </geometry>
    <material name="silver"/>
  </visual>
  <collision>
    <origin rpy="0 0 0" xyz="-0.10659 0.122748 -0.015433"/>
    <geometry>
      <mesh filename="meshes/BR_Wheel7.stl" scale="0.001 0.001 0.001"/>
    </geometry>
  </collision>
</link>

<link name="BR_Wheel8">
  <inertial>
    <origin rpy="0 0 0" xyz="-4.504245024045117e-07 -4.479622566361252e-07 -2.3179857698563122e-07"/>
    <mass value="0.00200707511610326"/>
    <inertia ixx="6.836045282176528e-08" ixy="2.8942271811718e-08" ixz="2.8942271813662786e-08" iyy="8.882572947936681e-08" iyz="-2.046527665777348e-08" izz="8.88257294779404e-08"/>
  </inertial>
  <visual>
    <origin rpy="0 0 0" xyz="-0.10659 0.116003 -0.031718"/>
    <geometry>
      <mesh filename="meshes/BR_Wheel8.stl" scale="0.001 0.001 0.001"/>
    </geometry>
    <material name="silver"/>
  </visual>
  <collision>
    <origin rpy="0 0 0" xyz="-0.10659 0.116003 -0.031718"/>
    <geometry>
      <mesh filename="meshes/BR_Wheel8.stl" scale="0.001 0.001 0.001"/>
    </geometry>
  </collision>
</link>

<link name="FL_Wheel1">
  <inertial>
    <origin rpy="0 0 0" xyz="2.887295363074305e-07 -4.916032416285576e-07 -2.3179857652072533e-07"/>
    <mass value="0.00200707511610326"/>
    <inertia ixx="6.836045281552773e-08" ixy="2.8942271811467277e-08" ixz="-2.8942271808816064e-08" iyy="8.882572948300905e-08" iyz="2.046527666366036e-08" izz="8.882572948475055e-08"/>
  </inertial>
  <visual>
    <origin rpy="0 0 0" xyz="0.105408 -0.116567 -0.031718"/>
    <geometry>
      <mesh filename="meshes/FL_Wheel1.stl" scale="0.001 0.001 0.001"/>
    </geometry>
    <material name="silver"/>
  </visual>
  <collision>
    <origin rpy="0 0 0" xyz="0.105408 -0.116567 -0.031718"/>
    <geometry>
      <mesh filename="meshes/FL_Wheel1.stl" scale="0.001 0.001 0.001"/>
    </geometry>
  </collision>
</link>

<link name="FL_Roller1">
  <inertial>
    <origin rpy="0 0 0" xyz="-0.010941711270470347 0.007737508396839871 -0.007737231798522405"/>
    <mass value="0.00027476500689675335"/>
    <inertia ixx="1.1002606497604655e-08" ixy="7.745045793039863e-09" ixz="-7.745045790011297e-09" iyy="1.6479180898454666e-08" iyz="5.47657439872057e-09" izz="1.6479180894194937e-08"/>
  </inertial>
  <visual>
    <origin rpy="0 0 0" xyz="0.094466 -0.108829 -0.039455"/>
    <geometry>
      <mesh filename="meshes/FL_Roller1.stl" scale="0.001 0.001 0.001"/>
    </geometry>
    <material name="silver"/>
  </visual>
  <collision>
    <origin rpy="0 0 0" xyz="0.094466 -0.108829 -0.039455"/>
    <geometry>
      <mesh filename="meshes/FL_Roller1.stl" scale="0.001 0.001 0.001"/>
    </geometry>
  </collision>
</link>

<link name="FL_Roller2">
  <inertial>
    <origin rpy="0 0 0" xyz="-0.010941711270444743 0.010941899794310914 -2.0567622234513028e-07"/>
    <mass value="0.00027476500689675335"/>
    <inertia ixx="1.100260649867234e-08" ixy="1.0953148800645042e-08" ixz="6.1409888675936775e-21" iyy="1.1002606498671493e-08" iyz="-5.717472393966527e-21" izz="2.1955755292909578e-08"/>
  </inertial>
  <visual>
    <origin rpy="0 0 0" xyz="0.094466 -0.089341 -0.038464"/>
    <geometry>
      <mesh filename="meshes/FL_Roller2.stl" scale="0.001 0.001 0.001"/>
    </geometry>
    <material name="silver"/>
  </visual>
  <collision>
    <origin rpy="0 0 0" xyz="0.094466 -0.089341 -0.038464"/>
    <geometry>
      <mesh filename="meshes/FL_Roller2.stl" scale="0.001 0.001 0.001"/>
    </geometry>
  </collision>
</link>

<link name="FL_Roller3">
  <inertial>
    <origin rpy="0 0 0" xyz="-0.01094171127047501 0.007737488912103005 0.007736705075833888"/>
    <mass value="0.00027476500689675335"/>
    <inertia ixx="1.10026064965357e-08" ixy="7.745045789257014e-09" ixz="7.74504579228505e-09" iyy="1.647918089472899e-08" iyz="-5.476574400322415e-09" izz="1.6479180898989144e-08"/>
  </inertial>
  <visual>
    <origin rpy="0 0 0" xyz="0.094466 -0.076261 -0.023983"/>
    <geometry>
      <mesh filename="meshes/FL_Roller3.stl" scale="0.001 0.001 0.001"/>
    </geometry>
    <material name="silver"/>
  </visual>
  <collision>
    <origin rpy="0 0 0" xyz="0.094466 -0.076261 -0.023983"/>
    <geometry>
      <mesh filename="meshes/FL_Roller3.stl" scale="0.001 0.001 0.001"/>
    </geometry>
  </collision>
</link>

<link name="FL_Roller4">
  <inertial>
    <origin rpy="0 0 0" xyz="-0.01094171127044831 4.6278979577707435e-07 0.010942096473311201"/>
    <mass value="0.00027476500689675335"/>
    <inertia ixx="1.1002606498664293e-08" ixy="-1.0164395367051604e-20" ixz="1.0953148800644566e-08" iyy="2.1955755292909154e-08" iyz="9.370301979000698e-21" izz="1.100260649867954e-08"/>
  </inertial>
  <visual>
    <origin rpy="0 0 0" xyz="0.094466 -0.077252 -0.004494"/>
    <geometry>
      <mesh filename="meshes/FL_Roller4.stl" scale="0.001 0.001 0.001"/>
    </geometry>
    <material name="silver"/>
  </visual>
  <collision>
    <origin rpy="0 0 0" xyz="0.094466 -0.077252 -0.004494"/>
    <geometry>
      <mesh filename="meshes/FL_Roller4.stl" scale="0.001 0.001 0.001"/>
    </geometry>
  </collision>
</link>

<link name="FL_Roller5">
  <inertial>
    <origin rpy="0 0 0" xyz="-0.010941711270470361 -0.007737447962266983 0.007736685591103645"/>
    <mass value="0.00027476500689675335"/>
    <inertia ixx="1.1002606497603384e-08" ixy="-7.745045793041134e-09" ixz="7.745045790011436e-09" iyy="1.6479180898454666e-08" iyz="5.4765743987203284e-09" izz="1.647918089419409e-08"/>
  </inertial>
  <visual>
    <origin rpy="0 0 0" xyz="0.094466 -0.091734 0.008585"/>
    <geometry>
      <mesh filename="meshes/FL_Roller5.stl" scale="0.001 0.001 0.001"/>
    </geometry>
    <material name="silver"/>
  </visual>
  <collision>
    <origin rpy="0 0 0" xyz="0.094466 -0.091734 0.008585"/>
    <geometry>
      <mesh filename="meshes/FL_Roller5.stl" scale="0.001 0.001 0.001"/>
    </geometry>
  </collision>
</link>

<link name="FL_Roller6">
  <inertial>
    <origin rpy="0 0 0" xyz="-0.010941711270438859 -0.010941839359743855 -3.405312016578968e-07"/>
    <mass value="0.00027476500689675335"/>
    <inertia ixx="1.1002606498671916e-08" ixy="-1.0953148800644195e-08" ixz="-5.929230630780102e-21" iyy="1.1002606498671916e-08" iyz="-5.6645328347631335e-21" izz="2.195575529290873e-08"/>
  </inertial>
  <visual>
    <origin rpy="0 0 0" xyz="0.094466 -0.111222 0.007594"/>
    <geometry>
      <mesh filename="meshes/FL_Roller6.stl" scale="0.001 0.001 0.001"/>
    </geometry>
    <material name="silver"/>
  </visual>
  <collision>
    <origin rpy="0 0 0" xyz="0.094466 -0.111222 0.007594"/>
    <geometry>
      <mesh filename="meshes/FL_Roller6.stl" scale="0.001 0.001 0.001"/>
    </geometry>
  </collision>
</link>

<link name="FL_Roller7">
  <inertial>
    <origin rpy="0 0 0" xyz="-0.010941711270474885 -0.0077374284775302005 -0.007737251283252579"/>
    <mass value="0.00027476500689675335"/>
    <inertia ixx="1.1002606496535276e-08" ixy="-7.745045789255743e-09" ixz="-7.745045792285041e-09" iyy="1.647918089472772e-08" iyz="-5.476574400322286e-09" izz="1.6479180898989144e-08"/>
  </inertial>
  <visual>
    <origin rpy="0 0 0" xyz="0.094466 -0.124302 -0.006887"/>
    <geometry>
      <mesh filename="meshes/FL_Roller7.stl" scale="0.001 0.001 0.001"/>
    </geometry>
    <material name="silver"/>
  </visual>
  <collision>
    <origin rpy="0 0 0" xyz="0.094466 -0.124302 -0.006887"/>
    <geometry>
      <mesh filename="meshes/FL_Roller7.stl" scale="0.001 0.001 0.001"/>
    </geometry>
  </collision>
</link>

<link name="FL_Roller8">
  <inertial>
    <origin rpy="0 0 0" xyz="-0.010941711270438817 -4.023552210852266e-07 -0.010941642680739608"/>
    <mass value="0.00027476500689675335"/>
    <inertia ixx="1.100260649867107e-08" ixy="5.505714157152952e-21" ixz="-1.0953148800644671e-08" iyy="2.1955755292907884e-08" iyz="5.61159327555974e-21" izz="1.1002606498670222e-08"/>
  </inertial>
  <visual>
    <origin rpy="0 0 0" xyz="0.094466 -0.123311 -0.026375"/>
    <geometry>
      <mesh filename="meshes/FL_Roller8.stl" scale="0.001 0.001 0.001"/>
    </geometry>
    <material name="silver"/>
  </visual>
  <collision>
    <origin rpy="0 0 0" xyz="0.094466 -0.123311 -0.026375"/>
    <geometry>
      <mesh filename="meshes/FL_Roller8.stl" scale="0.001 0.001 0.001"/>
    </geometry>
  </collision>
</link>

<link name="FL_Wheel2">
  <inertial>
    <origin rpy="0 0 0" xyz="2.887295556391889e-07 -1.0020568963486909e-07 -2.0567628530865356e-07"/>
    <mass value="0.00200707511610326"/>
    <inertia ixx="6.836045281905816e-08" ixy="4.093055332169134e-08" ixz="5.5175726184145124e-18" iyy="6.836045282052183e-08" iyz="1.3417001884508117e-18" izz="1.0929100614390046e-07"/>
  </inertial>
  <visual>
    <origin rpy="0 0 0" xyz="0.105408 -0.100283 -0.038464"/>
    <geometry>
      <mesh filename="meshes/FL_Wheel2.stl" scale="0.001 0.001 0.001"/>
    </geometry>
    <material name="silver"/>
  </visual>
  <collision>
    <origin rpy="0 0 0" xyz="0.105408 -0.100283 -0.038464"/>
    <geometry>
      <mesh filename="meshes/FL_Wheel2.stl" scale="0.001 0.001 0.001"/>
    </geometry>
  </collision>
</link>

<link name="FL_Wheel3">
  <inertial>
    <origin rpy="0 0 0" xyz="2.887295615372487e-07 4.889121543449892e-07 -2.949241665051172e-07"/>
    <mass value="0.00200707511610326"/>
    <inertia ixx="6.836045281574118e-08" ixy="2.894227181137241e-08" ixz="2.8942271809838433e-08" iyy="8.882572948643445e-08" iyz="-2.0465276663142823e-08" izz="8.882572948193162e-08"/>
  </inertial>
  <visual>
    <origin rpy="0 0 0" xyz="0.105408 -0.083998 -0.03172"/>
    <geometry>
      <mesh filename="meshes/FL_Wheel3.stl" scale="0.001 0.001 0.001"/>
    </geometry>
    <material name="silver"/>
  </visual>
  <collision>
    <origin rpy="0 0 0" xyz="0.105408 -0.083998 -0.03172"/>
    <geometry>
      <mesh filename="meshes/FL_Wheel3.stl" scale="0.001 0.001 0.001"/>
    </geometry>
  </collision>
</link>

<link name="FL_Wheel4">
  <inertial>
    <origin rpy="0 0 0" xyz="2.8872955172565273e-07 4.627898586712087e-07 9.647331116781344e-08"/>
    <mass value="0.00200707511610326"/>
    <inertia ixx="6.836045281909035e-08" ixy="-5.5091022889419694e-18" ixz="4.093055332174851e-08" iyy="1.092910061439174e-07" iyz="-1.3925221652860698e-18" izz="6.836045282059298e-08"/>
  </inertial>
  <visual>
    <origin rpy="0 0 0" xyz="0.105408 -0.077252 -0.015436"/>
    <geometry>
      <mesh filename="meshes/FL_Wheel4.stl" scale="0.001 0.001 0.001"/>
    </geometry>
    <material name="silver"/>
  </visual>
  <collision>
    <origin rpy="0 0 0" xyz="0.105408 -0.077252 -0.015436"/>
    <geometry>
      <mesh filename="meshes/FL_Wheel4.stl" scale="0.001 0.001 0.001"/>
    </geometry>
  </collision>
</link>

<link name="FL_Wheel5">
  <inertial>
    <origin rpy="0 0 0" xyz="2.887295363074305e-07 -4.4796218542919597e-07 -3.14408842298948e-07"/>
    <mass value="0.00200707511610326"/>
    <inertia ixx="6.836045281559549e-08" ixy="-2.894227181155537e-08" ixz="2.8942271808893594e-08" iyy="8.882572948316152e-08" iyz="2.046527666364927e-08" izz="8.882572948489285e-08"/>
  </inertial>
  <visual>
    <origin rpy="0 0 0" xyz="0.105408 -0.083997 0.000848"/>
    <geometry>
      <mesh filename="meshes/FL_Wheel5.stl" scale="0.001 0.001 0.001"/>
    </geometry>
    <material name="silver"/>
  </visual>
  <collision>
    <origin rpy="0 0 0" xyz="0.105408 -0.083997 0.000848"/>
    <geometry>
      <mesh filename="meshes/FL_Wheel5.stl" scale="0.001 0.001 0.001"/>
    </geometry>
  </collision>
</link>

<link name="FL_Wheel6">
  <inertial>
    <origin rpy="0 0 0" xyz="2.8872956160663765e-07 1.6064025636086665e-07 -3.405311386744242e-07"/>
    <mass value="0.00200707511610326"/>
    <inertia ixx="6.836045281899378e-08" ixy="-4.0930553321515156e-08" ixz="-5.491314597049629e-18" iyy="6.836045282028127e-08" iyz="1.5286827115571985e-18" izz="1.0929100614366329e-07"/>
  </inertial>
  <visual>
    <origin rpy="0 0 0" xyz="0.105408 -0.10028 0.007594"/>
    <geometry>
      <mesh filename="meshes/FL_Wheel6.stl" scale="0.001 0.001 0.001"/>
    </geometry>
    <material name="silver"/>
  </visual>
  <collision>
    <origin rpy="0 0 0" xyz="0.105408 -0.10028 0.007594"/>
    <geometry>
      <mesh filename="meshes/FL_Wheel6.stl" scale="0.001 0.001 0.001"/>
    </geometry>
  </collision>
</link>

<link name="FL_Wheel7">
  <inertial>
    <origin rpy="0 0 0" xyz="2.887295618841934e-07 -4.2847758126296487e-07 -2.512832521702488e-07"/>
    <mass value="0.00200707511610326"/>
    <inertia ixx="6.836045281528039e-08" ixy="-2.8942271811287706e-08" ixz="-2.8942271809559415e-08" iyy="8.882572948690879e-08" iyz="-2.0465276662957005e-08" izz="8.882572948141663e-08"/>
  </inertial>
  <visual>
    <origin rpy="0 0 0" xyz="0.105408 -0.116565 0.00085"/>
    <geometry>
      <mesh filename="meshes/FL_Wheel7.stl" scale="0.001 0.001 0.001"/>
    </geometry>
    <material name="silver"/>
  </visual>
  <collision>
    <origin rpy="0 0 0" xyz="0.105408 -0.116565 0.00085"/>
    <geometry>
      <mesh filename="meshes/FL_Wheel7.stl" scale="0.001 0.001 0.001"/>
    </geometry>
  </collision>
</link>

<link name="FL_Wheel8">
  <inertial>
    <origin rpy="0 0 0" xyz="2.887295618841934e-07 -4.0235528439569457e-07 3.573192609209602e-07"/>
    <mass value="0.00200707511610326"/>
    <inertia ixx="6.83604528192445e-08" ixy="5.4921616299968834e-18" ixz="-4.093055332185185e-08" iyy="1.0929100614362941e-07" iyz="-1.3044307387716225e-18" izz="6.836045282049811e-08"/>
  </inertial>
  <visual>
    <origin rpy="0 0 0" xyz="0.105408 -0.123311 -0.015433"/>
    <geometry>
      <mesh filename="meshes/FL_Wheel8.stl" scale="0.001 0.001 0.001"/>
    </geometry>
    <material name="silver"/>
  </visual>
  <collision>
    <origin rpy="0 0 0" xyz="0.105408 -0.123311 -0.015433"/>
    <geometry>
      <mesh filename="meshes/FL_Wheel8.stl" scale="0.001 0.001 0.001"/>
    </geometry>
  </collision>
</link>

<joint name="BackRight" type="continuous">
  <origin rpy="0 0 0" xyz="0.076591 -0.099718 0.015435"/>
  <parent link="base_link"/>
  <child link="BR_TopBase1"/>
  <axis xyz="-1.0 0.0 0.0"/>
</joint>
<transmission name="BackRight_tran">
  <type>transmission_interface/SimpleTransmission</type>
  <joint name="BackRight">
    <hardwareInterface>PositionJointInterface</hardwareInterface>
  </joint>
  <actuator name="BackRight_actr">
    <hardwareInterface>PositionJointInterface</hardwareInterface>
    <mechanicalReduction>1</mechanicalReduction>
  </actuator>
</transmission>

<joint name="FrontRight" type="continuous">
  <origin rpy="0 0 0" xyz="0.076591 0.100282 0.015435"/>
  <parent link="base_link"/>
  <child link="FR_TopBase1"/>
  <axis xyz="-1.0 0.0 0.0"/>
</joint>
<transmission name="FrontRight_tran">
  <type>transmission_interface/SimpleTransmission</type>
  <joint name="FrontRight">
    <hardwareInterface>PositionJointInterface</hardwareInterface>
  </joint>
  <actuator name="FrontRight_actr">
    <hardwareInterface>PositionJointInterface</hardwareInterface>
    <mechanicalReduction>1</mechanicalReduction>
  </actuator>
</transmission>

<joint name="BackLeft" type="continuous">
  <origin rpy="0 0 0" xyz="-0.075409 -0.099718 0.015435"/>
  <parent link="base_link"/>
  <child link="BL_TopBase1"/>
  <axis xyz="-1.0 0.0 0.0"/>
</joint>
<transmission name="BackLeft_tran">
  <type>transmission_interface/SimpleTransmission</type>
  <joint name="BackLeft">
    <hardwareInterface>PositionJointInterface</hardwareInterface>
  </joint>
  <actuator name="BackLeft_actr">
    <hardwareInterface>PositionJointInterface</hardwareInterface>
    <mechanicalReduction>1</mechanicalReduction>
  </actuator>
</transmission>

<joint name="Rigid14" type="fixed">
  <origin rpy="0 0 0" xyz="0.03 0.0 0.0"/>
  <parent link="BR_MC1"/>
  <child link="BR_BotPlate1"/>
</joint>

<joint name="Rigid15" type="fixed">
  <origin rpy="0 0 0" xyz="0.0 0.0 0.0"/>
  <parent link="BR_TopPlate1"/>
  <child link="BR_MC1"/>
</joint>

<joint name="Rigid16" type="fixed">
  <origin rpy="0 0 0" xyz="0.014 0.0 0.0"/>
  <parent link="BR_TopBase1"/>
  <child link="BR_TopPlate1"/>
</joint>

<joint name="Rigid17" type="fixed">
  <origin rpy="0 0 0" xyz="0.032 0.0 0.0"/>
  <parent link="FR_MC1"/>
  <child link="FR_BotPlate1"/>
</joint>

<joint name="Rigid18" type="fixed">
  <origin rpy="0 0 0" xyz="0.0 0.0 0.0"/>
  <parent link="FR_TopPlate1"/>
  <child link="FR_MC1"/>
</joint>

<joint name="Rigid19" type="fixed">
  <origin rpy="0 0 0" xyz="0.014 0.0 0.0"/>
  <parent link="FR_TopBase1"/>
  <child link="FR_TopPlate1"/>
</joint>

<joint name="Rigid58" type="fixed">
  <origin rpy="0 0 0" xyz="-0.032 0.0 0.0"/>
  <parent link="BL_MC1"/>
  <child link="BL_BotPlate1"/>
</joint>

<joint name="Rigid59" type="fixed">
  <origin rpy="0 0 0" xyz="0.0 0.0 0.0"/>
  <parent link="BL_TopPlate1"/>
  <child link="BL_MC1"/>
</joint>

<joint name="Rigid60" type="fixed">
  <origin rpy="0 0 0" xyz="-0.014 0.0 0.0"/>
  <parent link="BL_TopBase1"/>
  <child link="BL_TopPlate1"/>
</joint>

<joint name="Rev61" type="continuous">
  <origin rpy="0 0 0" xyz="-0.010942 -0.007737 0.007737"/>
  <parent link="BL_Roller1"/>
  <child link="BL_Wheel1"/>
  <axis xyz="-0.707107 -0.5 0.5"/>
</joint>
<transmission name="Rev61_tran">
  <type>transmission_interface/SimpleTransmission</type>
  <joint name="Rev61">
    <hardwareInterface>PositionJointInterface</hardwareInterface>
  </joint>
  <actuator name="Rev61_actr">
    <hardwareInterface>PositionJointInterface</hardwareInterface>
    <mechanicalReduction>1</mechanicalReduction>
  </actuator>
</transmission>

<joint name="Rev63" type="continuous">
  <origin rpy="0 0 0" xyz="-0.010942 -0.007737 -0.007737"/>
  <parent link="BL_Roller4"/>
  <child link="BL_Wheel4"/>
  <axis xyz="-0.707107 -0.5 -0.5"/>
</joint>
<transmission name="Rev63_tran">
  <type>transmission_interface/SimpleTransmission</type>
  <joint name="Rev63">
    <hardwareInterface>PositionJointInterface</hardwareInterface>
  </joint>
  <actuator name="Rev63_actr">
    <hardwareInterface>PositionJointInterface</hardwareInterface>
    <mechanicalReduction>1</mechanicalReduction>
  </actuator>
</transmission>

<joint name="Rev64" type="continuous">
  <origin rpy="0 0 0" xyz="-0.010942 -0.010942 0.0"/>
  <parent link="BL_Roller3"/>
  <child link="BL_Wheel3"/>
  <axis xyz="-0.707107 -0.707107 0.0"/>
</joint>
<transmission name="Rev64_tran">
  <type>transmission_interface/SimpleTransmission</type>
  <joint name="Rev64">
    <hardwareInterface>PositionJointInterface</hardwareInterface>
  </joint>
  <actuator name="Rev64_actr">
    <hardwareInterface>PositionJointInterface</hardwareInterface>
    <mechanicalReduction>1</mechanicalReduction>
  </actuator>
</transmission>

<joint name="Rev65" type="continuous">
  <origin rpy="0 0 0" xyz="-0.010942 0.010942 0.0"/>
  <parent link="BL_Roller7"/>
  <child link="BL_Wheel7"/>
  <axis xyz="-0.707107 0.707107 -0.0"/>
</joint>
<transmission name="Rev65_tran">
  <type>transmission_interface/SimpleTransmission</type>
  <joint name="Rev65">
    <hardwareInterface>PositionJointInterface</hardwareInterface>
  </joint>
  <actuator name="Rev65_actr">
    <hardwareInterface>PositionJointInterface</hardwareInterface>
    <mechanicalReduction>1</mechanicalReduction>
  </actuator>
</transmission>

<joint name="Rev66" type="continuous">
  <origin rpy="0 0 0" xyz="-0.010942 0.0 0.010942"/>
  <parent link="BL_Roller8"/>
  <child link="BL_Wheel8"/>
  <axis xyz="-0.707107 -0.0 0.707107"/>
</joint>
<transmission name="Rev66_tran">
  <type>transmission_interface/SimpleTransmission</type>
  <joint name="Rev66">
    <hardwareInterface>PositionJointInterface</hardwareInterface>
  </joint>
  <actuator name="Rev66_actr">
    <hardwareInterface>PositionJointInterface</hardwareInterface>
    <mechanicalReduction>1</mechanicalReduction>
  </actuator>
</transmission>

<joint name="Rev67" type="continuous">
  <origin rpy="0 0 0" xyz="-0.010942 0.007737 -0.007737"/>
  <parent link="BL_Roller2"/>
  <child link="BL_Wheel2"/>
  <axis xyz="-0.707107 0.5 -0.5"/>
</joint>
<transmission name="Rev67_tran">
  <type>transmission_interface/SimpleTransmission</type>
  <joint name="Rev67">
    <hardwareInterface>PositionJointInterface</hardwareInterface>
  </joint>
  <actuator name="Rev67_actr">
    <hardwareInterface>PositionJointInterface</hardwareInterface>
    <mechanicalReduction>1</mechanicalReduction>
  </actuator>
</transmission>

<joint name="Rev68" type="continuous">
  <origin rpy="0 0 0" xyz="-0.010942 0.0 -0.010942"/>
  <parent link="BL_Roller5"/>
  <child link="BL_Wheel5"/>
  <axis xyz="-0.707107 0.0 -0.707107"/>
</joint>
<transmission name="Rev68_tran">
  <type>transmission_interface/SimpleTransmission</type>
  <joint name="Rev68">
    <hardwareInterface>PositionJointInterface</hardwareInterface>
  </joint>
  <actuator name="Rev68_actr">
    <hardwareInterface>PositionJointInterface</hardwareInterface>
    <mechanicalReduction>1</mechanicalReduction>
  </actuator>
</transmission>

<joint name="Rev69" type="continuous">
  <origin rpy="0 0 0" xyz="-0.010942 0.007738 0.007737"/>
  <parent link="BL_Roller6"/>
  <child link="BL_Wheel6"/>
  <axis xyz="-0.707107 0.5 0.5"/>
</joint>
<transmission name="Rev69_tran">
  <type>transmission_interface/SimpleTransmission</type>
  <joint name="Rev69">
    <hardwareInterface>PositionJointInterface</hardwareInterface>
  </joint>
  <actuator name="Rev69_actr">
    <hardwareInterface>PositionJointInterface</hardwareInterface>
    <mechanicalReduction>1</mechanicalReduction>
  </actuator>
</transmission>

<joint name="Rigid77" type="fixed">
  <origin rpy="0 0 0" xyz="-0.005057 0.008547 -0.02402"/>
  <parent link="BL_TopPlate1"/>
  <child link="BL_Roller6"/>
</joint>

<joint name="Rev78" type="continuous">
  <origin rpy="0 0 0" xyz="0.010942 -0.007737 -0.007737"/>
  <parent link="FR_Roller1"/>
  <child link="FR_Wheel1"/>
  <axis xyz="0.707107 -0.5 -0.5"/>
</joint>
<transmission name="Rev78_tran">
  <type>transmission_interface/SimpleTransmission</type>
  <joint name="Rev78">
    <hardwareInterface>PositionJointInterface</hardwareInterface>
  </joint>
  <actuator name="Rev78_actr">
    <hardwareInterface>PositionJointInterface</hardwareInterface>
    <mechanicalReduction>1</mechanicalReduction>
  </actuator>
</transmission>

<joint name="Rev79" type="continuous">
  <origin rpy="0 0 0" xyz="0.010942 -0.010942 0.0"/>
  <parent link="FR_Roller8"/>
  <child link="FR_Wheel8"/>
  <axis xyz="0.707107 -0.707107 -0.0"/>
</joint>
<transmission name="Rev79_tran">
  <type>transmission_interface/SimpleTransmission</type>
  <joint name="Rev79">
    <hardwareInterface>PositionJointInterface</hardwareInterface>
  </joint>
  <actuator name="Rev79_actr">
    <hardwareInterface>PositionJointInterface</hardwareInterface>
    <mechanicalReduction>1</mechanicalReduction>
  </actuator>
</transmission>

<joint name="Rev80" type="continuous">
  <origin rpy="0 0 0" xyz="0.010942 -0.007737 0.007737"/>
  <parent link="FR_Roller7"/>
  <child link="FR_Wheel7"/>
  <axis xyz="0.707107 -0.5 0.5"/>
</joint>
<transmission name="Rev80_tran">
  <type>transmission_interface/SimpleTransmission</type>
  <joint name="Rev80">
    <hardwareInterface>PositionJointInterface</hardwareInterface>
  </joint>
  <actuator name="Rev80_actr">
    <hardwareInterface>PositionJointInterface</hardwareInterface>
    <mechanicalReduction>1</mechanicalReduction>
  </actuator>
</transmission>

<joint name="Rev81" type="continuous">
  <origin rpy="0 0 0" xyz="0.010942 0.0 0.010942"/>
  <parent link="FR_Roller6"/>
  <child link="FR_Wheel6"/>
  <axis xyz="0.707107 -0.0 0.707107"/>
</joint>
<transmission name="Rev81_tran">
  <type>transmission_interface/SimpleTransmission</type>
  <joint name="Rev81">
    <hardwareInterface>PositionJointInterface</hardwareInterface>
  </joint>
  <actuator name="Rev81_actr">
    <hardwareInterface>PositionJointInterface</hardwareInterface>
    <mechanicalReduction>1</mechanicalReduction>
  </actuator>
</transmission>

<joint name="Rev82" type="continuous">
  <origin rpy="0 0 0" xyz="0.010942 0.0 -0.010942"/>
  <parent link="FR_Roller2"/>
  <child link="FR_Wheel2"/>
  <axis xyz="0.707107 0.0 -0.707107"/>
</joint>
<transmission name="Rev82_tran">
  <type>transmission_interface/SimpleTransmission</type>
  <joint name="Rev82">
    <hardwareInterface>PositionJointInterface</hardwareInterface>
  </joint>
  <actuator name="Rev82_actr">
    <hardwareInterface>PositionJointInterface</hardwareInterface>
    <mechanicalReduction>1</mechanicalReduction>
  </actuator>
</transmission>

<joint name="Rev83" type="continuous">
  <origin rpy="0 0 0" xyz="0.010942 0.007738 -0.007737"/>
  <parent link="FR_Roller4"/>
  <child link="FR_Wheel4"/>
  <axis xyz="0.707107 0.5 -0.5"/>
</joint>
<transmission name="Rev83_tran">
  <type>transmission_interface/SimpleTransmission</type>
  <joint name="Rev83">
    <hardwareInterface>PositionJointInterface</hardwareInterface>
  </joint>
  <actuator name="Rev83_actr">
    <hardwareInterface>PositionJointInterface</hardwareInterface>
    <mechanicalReduction>1</mechanicalReduction>
  </actuator>
</transmission>

<joint name="Rev84" type="continuous">
  <origin rpy="0 0 0" xyz="0.010942 0.007737 0.007737"/>
  <parent link="FR_Roller5"/>
  <child link="FR_Wheel5"/>
  <axis xyz="0.707107 0.5 0.5"/>
</joint>
<transmission name="Rev84_tran">
  <type>transmission_interface/SimpleTransmission</type>
  <joint name="Rev84">
    <hardwareInterface>PositionJointInterface</hardwareInterface>
  </joint>
  <actuator name="Rev84_actr">
    <hardwareInterface>PositionJointInterface</hardwareInterface>
    <mechanicalReduction>1</mechanicalReduction>
  </actuator>
</transmission>

<joint name="Rev85" type="continuous">
  <origin rpy="0 0 0" xyz="0.010942 0.010942 0.0"/>
  <parent link="FR_Roller3"/>
  <child link="FR_Wheel3"/>
  <axis xyz="0.707107 0.707107 0.0"/>
</joint>
<transmission name="Rev85_tran">
  <type>transmission_interface/SimpleTransmission</type>
  <joint name="Rev85">
    <hardwareInterface>PositionJointInterface</hardwareInterface>
  </joint>
  <actuator name="Rev85_actr">
    <hardwareInterface>PositionJointInterface</hardwareInterface>
    <mechanicalReduction>1</mechanicalReduction>
  </actuator>
</transmission>

<joint name="Rigid86" type="fixed">
  <origin rpy="0 0 0" xyz="0.005057 0.02402 -0.008548"/>
  <parent link="FR_TopPlate1"/>
  <child link="FR_Roller1"/>
</joint>

<joint name="Rigid87" type="fixed">
  <origin rpy="0 0 0" xyz="0.005057 0.023029 0.01094"/>
  <parent link="FR_TopPlate1"/>
  <child link="FR_Roller2"/>
</joint>

<joint name="Rigid88" type="fixed">
  <origin rpy="0 0 0" xyz="0.005057 0.008547 0.02402"/>
  <parent link="FR_TopPlate1"/>
  <child link="FR_Roller4"/>
</joint>

<joint name="Rigid89" type="fixed">
  <origin rpy="0 0 0" xyz="0.005057 -0.010941 0.023029"/>
  <parent link="FR_TopPlate1"/>
  <child link="FR_Roller3"/>
</joint>

<joint name="Rigid90" type="fixed">
  <origin rpy="0 0 0" xyz="0.005057 -0.024021 0.008548"/>
  <parent link="FR_TopPlate1"/>
  <child link="FR_Roller5"/>
</joint>

<joint name="Rigid91" type="fixed">
  <origin rpy="0 0 0" xyz="0.005057 -0.02303 -0.010941"/>
  <parent link="FR_TopPlate1"/>
  <child link="FR_Roller6"/>
</joint>

<joint name="Rigid92" type="fixed">
  <origin rpy="0 0 0" xyz="0.005057 -0.008548 -0.02402"/>
  <parent link="FR_TopPlate1"/>
  <child link="FR_Roller7"/>
</joint>

<joint name="Rigid94" type="fixed">
  <origin rpy="0 0 0" xyz="0.005057 0.01094 -0.023029"/>
  <parent link="FR_TopPlate1"/>
  <child link="FR_Roller8"/>
</joint>

<joint name="Rigid125" type="fixed">
  <origin rpy="0 0 0" xyz="-0.005057 -0.010941 -0.023029"/>
  <parent link="BL_TopPlate1"/>
  <child link="BL_Roller7"/>
</joint>

<joint name="Rigid126" type="fixed">
  <origin rpy="0 0 0" xyz="-0.005057 -0.024021 -0.008548"/>
  <parent link="BL_TopPlate1"/>
  <child link="BL_Roller2"/>
</joint>

<joint name="Rigid127" type="fixed">
  <origin rpy="0 0 0" xyz="-0.005057 -0.02303 0.01094"/>
  <parent link="BL_TopPlate1"/>
  <child link="BL_Roller5"/>
</joint>

<joint name="Rigid128" type="fixed">
  <origin rpy="0 0 0" xyz="-0.005057 -0.008548 0.02402"/>
  <parent link="BL_TopPlate1"/>
  <child link="BL_Roller4"/>
</joint>

<joint name="Rigid129" type="fixed">
  <origin rpy="0 0 0" xyz="-0.005057 0.01094 0.023029"/>
  <parent link="BL_TopPlate1"/>
  <child link="BL_Roller3"/>
</joint>

<joint name="Rigid130" type="fixed">
  <origin rpy="0 0 0" xyz="-0.005057 0.02402 0.008548"/>
  <parent link="BL_TopPlate1"/>
  <child link="BL_Roller1"/>
</joint>

<joint name="Rigid131" type="fixed">
  <origin rpy="0 0 0" xyz="-0.005057 0.023029 -0.010941"/>
  <parent link="BL_TopPlate1"/>
  <child link="BL_Roller8"/>
</joint>

<joint name="Rigid140" type="fixed">
  <origin rpy="0 0 0" xyz="-0.032 0.0 0.0"/>
  <parent link="FL_MC1"/>
  <child link="FL_BotPlate1"/>
</joint>

<joint name="Rigid141" type="fixed">
  <origin rpy="0 0 0" xyz="0.0 0.0 0.0"/>
  <parent link="FL_TopPlate1"/>
  <child link="FL_MC1"/>
</joint>

<joint name="Rigid142" type="fixed">
  <origin rpy="0 0 0" xyz="-0.014 0.0 0.0"/>
  <parent link="FL_TopBase1"/>
  <child link="FL_TopPlate1"/>
</joint>

<joint name="FrontLeft" type="continuous">
  <origin rpy="0 0 0" xyz="-0.075409 0.100282 0.015435"/>
  <parent link="base_link"/>
  <child link="FL_TopBase1"/>
  <axis xyz="-1.0 0.0 0.0"/>
</joint>
<transmission name="FrontLeft_tran">
  <type>transmission_interface/SimpleTransmission</type>
  <joint name="FrontLeft">
    <hardwareInterface>PositionJointInterface</hardwareInterface>
  </joint>
  <actuator name="FrontLeft_actr">
    <hardwareInterface>PositionJointInterface</hardwareInterface>
    <mechanicalReduction>1</mechanicalReduction>
  </actuator>
</transmission>

<joint name="Rev144" type="continuous">
  <origin rpy="0 0 0" xyz="0.010942 -0.010942 0.0"/>
  <parent link="BR_Roller1"/>
  <child link="BR_Wheel1"/>
  <axis xyz="0.707107 -0.707107 0.0"/>
</joint>
<transmission name="Rev144_tran">
  <type>transmission_interface/SimpleTransmission</type>
  <joint name="Rev144">
    <hardwareInterface>PositionJointInterface</hardwareInterface>
  </joint>
  <actuator name="Rev144_actr">
    <hardwareInterface>PositionJointInterface</hardwareInterface>
    <mechanicalReduction>1</mechanicalReduction>
  </actuator>
</transmission>

<joint name="Rigid145" type="fixed">
  <origin rpy="0 0 0" xyz="0.005057 0.01094 0.023029"/>
  <parent link="BR_TopPlate1"/>
  <child link="BR_Roller1"/>
</joint>

<joint name="Rigid146" type="fixed">
  <origin rpy="0 0 0" xyz="0.005057 0.02402 0.008548"/>
  <parent link="BR_TopPlate1"/>
  <child link="BR_Roller2"/>
</joint>

<joint name="Rigid147" type="fixed">
  <origin rpy="0 0 0" xyz="0.005057 0.023029 -0.010941"/>
  <parent link="BR_TopPlate1"/>
  <child link="BR_Roller3"/>
</joint>

<joint name="Rigid148" type="fixed">
  <origin rpy="0 0 0" xyz="0.005057 0.008547 -0.02402"/>
  <parent link="BR_TopPlate1"/>
  <child link="BR_Roller4"/>
</joint>

<joint name="Rigid149" type="fixed">
  <origin rpy="0 0 0" xyz="0.005057 -0.010941 -0.023029"/>
  <parent link="BR_TopPlate1"/>
  <child link="BR_Roller5"/>
</joint>

<joint name="Rigid150" type="fixed">
  <origin rpy="0 0 0" xyz="0.005057 -0.024021 -0.008548"/>
  <parent link="BR_TopPlate1"/>
  <child link="BR_Roller6"/>
</joint>

<joint name="Rigid151" type="fixed">
  <origin rpy="0 0 0" xyz="0.005057 -0.02303 0.01094"/>
  <parent link="BR_TopPlate1"/>
  <child link="BR_Roller7"/>
</joint>

<joint name="Rigid152" type="fixed">
  <origin rpy="0 0 0" xyz="0.005057 -0.008548 0.02402"/>
  <parent link="BR_TopPlate1"/>
  <child link="BR_Roller8"/>
</joint>

<joint name="Rev153" type="continuous">
  <origin rpy="0 0 0" xyz="0.010942 -0.007737 0.007737"/>
  <parent link="BR_Roller2"/>
  <child link="BR_Wheel2"/>
  <axis xyz="0.707107 -0.5 0.5"/>
</joint>
<transmission name="Rev153_tran">
  <type>transmission_interface/SimpleTransmission</type>
  <joint name="Rev153">
    <hardwareInterface>PositionJointInterface</hardwareInterface>
  </joint>
  <actuator name="Rev153_actr">
    <hardwareInterface>PositionJointInterface</hardwareInterface>
    <mechanicalReduction>1</mechanicalReduction>
  </actuator>
</transmission>

<joint name="Rev154" type="continuous">
  <origin rpy="0 0 0" xyz="0.010942 0.0 0.010942"/>
  <parent link="BR_Roller3"/>
  <child link="BR_Wheel3"/>
  <axis xyz="0.707107 0.0 0.707107"/>
</joint>
<transmission name="Rev154_tran">
  <type>transmission_interface/SimpleTransmission</type>
  <joint name="Rev154">
    <hardwareInterface>PositionJointInterface</hardwareInterface>
  </joint>
  <actuator name="Rev154_actr">
    <hardwareInterface>PositionJointInterface</hardwareInterface>
    <mechanicalReduction>1</mechanicalReduction>
  </actuator>
</transmission>

<joint name="Rev155" type="continuous">
  <origin rpy="0 0 0" xyz="0.010942 0.007738 0.007737"/>
  <parent link="BR_Roller4"/>
  <child link="BR_Wheel4"/>
  <axis xyz="0.707107 0.5 0.5"/>
</joint>
<transmission name="Rev155_tran">
  <type>transmission_interface/SimpleTransmission</type>
  <joint name="Rev155">
    <hardwareInterface>PositionJointInterface</hardwareInterface>
  </joint>
  <actuator name="Rev155_actr">
    <hardwareInterface>PositionJointInterface</hardwareInterface>
    <mechanicalReduction>1</mechanicalReduction>
  </actuator>
</transmission>

<joint name="Rev156" type="continuous">
  <origin rpy="0 0 0" xyz="0.010942 0.010942 0.0"/>
  <parent link="BR_Roller5"/>
  <child link="BR_Wheel5"/>
  <axis xyz="0.707107 0.707107 -0.0"/>
</joint>
<transmission name="Rev156_tran">
  <type>transmission_interface/SimpleTransmission</type>
  <joint name="Rev156">
    <hardwareInterface>PositionJointInterface</hardwareInterface>
  </joint>
  <actuator name="Rev156_actr">
    <hardwareInterface>PositionJointInterface</hardwareInterface>
    <mechanicalReduction>1</mechanicalReduction>
  </actuator>
</transmission>

<joint name="Rev157" type="continuous">
  <origin rpy="0 0 0" xyz="0.010942 0.007737 -0.007737"/>
  <parent link="BR_Roller6"/>
  <child link="BR_Wheel6"/>
  <axis xyz="0.707107 0.5 -0.5"/>
</joint>
<transmission name="Rev157_tran">
  <type>transmission_interface/SimpleTransmission</type>
  <joint name="Rev157">
    <hardwareInterface>PositionJointInterface</hardwareInterface>
  </joint>
  <actuator name="Rev157_actr">
    <hardwareInterface>PositionJointInterface</hardwareInterface>
    <mechanicalReduction>1</mechanicalReduction>
  </actuator>
</transmission>

<joint name="Rev158" type="continuous">
  <origin rpy="0 0 0" xyz="0.010942 0.0 -0.010942"/>
  <parent link="BR_Roller7"/>
  <child link="BR_Wheel7"/>
  <axis xyz="0.707107 -0.0 -0.707107"/>
</joint>
<transmission name="Rev158_tran">
  <type>transmission_interface/SimpleTransmission</type>
  <joint name="Rev158">
    <hardwareInterface>PositionJointInterface</hardwareInterface>
  </joint>
  <actuator name="Rev158_actr">
    <hardwareInterface>PositionJointInterface</hardwareInterface>
    <mechanicalReduction>1</mechanicalReduction>
  </actuator>
</transmission>

<joint name="Rev159" type="continuous">
  <origin rpy="0 0 0" xyz="0.010942 -0.007737 -0.007737"/>
  <parent link="BR_Roller8"/>
  <child link="BR_Wheel8"/>
  <axis xyz="0.707107 -0.5 -0.5"/>
</joint>
<transmission name="Rev159_tran">
  <type>transmission_interface/SimpleTransmission</type>
  <joint name="Rev159">
    <hardwareInterface>PositionJointInterface</hardwareInterface>
  </joint>
  <actuator name="Rev159_actr">
    <hardwareInterface>PositionJointInterface</hardwareInterface>
    <mechanicalReduction>1</mechanicalReduction>
  </actuator>
</transmission>

<joint name="Rev160" type="continuous">
  <origin rpy="0 0 0" xyz="-0.010942 0.007738 -0.007737"/>
  <parent link="FL_Roller1"/>
  <child link="FL_Wheel1"/>
  <axis xyz="-0.707107 0.5 -0.5"/>
</joint>
<transmission name="Rev160_tran">
  <type>transmission_interface/SimpleTransmission</type>
  <joint name="Rev160">
    <hardwareInterface>PositionJointInterface</hardwareInterface>
  </joint>
  <actuator name="Rev160_actr">
    <hardwareInterface>PositionJointInterface</hardwareInterface>
    <mechanicalReduction>1</mechanicalReduction>
  </actuator>
</transmission>

<joint name="Rigid161" type="fixed">
  <origin rpy="0 0 0" xyz="-0.005057 0.008547 0.02402"/>
  <parent link="FL_TopPlate1"/>
  <child link="FL_Roller1"/>
</joint>

<joint name="Rigid162" type="fixed">
  <origin rpy="0 0 0" xyz="-0.005057 -0.010941 0.023029"/>
  <parent link="FL_TopPlate1"/>
  <child link="FL_Roller2"/>
</joint>

<joint name="Rigid163" type="fixed">
  <origin rpy="0 0 0" xyz="-0.005057 -0.024021 0.008548"/>
  <parent link="FL_TopPlate1"/>
  <child link="FL_Roller3"/>
</joint>

<joint name="Rigid164" type="fixed">
  <origin rpy="0 0 0" xyz="-0.005057 -0.02303 -0.010941"/>
  <parent link="FL_TopPlate1"/>
  <child link="FL_Roller4"/>
</joint>

<joint name="Rigid165" type="fixed">
  <origin rpy="0 0 0" xyz="-0.005057 -0.008548 -0.02402"/>
  <parent link="FL_TopPlate1"/>
  <child link="FL_Roller5"/>
</joint>

<joint name="Rigid166" type="fixed">
  <origin rpy="0 0 0" xyz="-0.005057 0.01094 -0.023029"/>
  <parent link="FL_TopPlate1"/>
  <child link="FL_Roller6"/>
</joint>

<joint name="Rigid167" type="fixed">
  <origin rpy="0 0 0" xyz="-0.005057 0.02402 -0.008548"/>
  <parent link="FL_TopPlate1"/>
  <child link="FL_Roller7"/>
</joint>

<joint name="Rigid168" type="fixed">
  <origin rpy="0 0 0" xyz="-0.005057 0.023029 0.01094"/>
  <parent link="FL_TopPlate1"/>
  <child link="FL_Roller8"/>
</joint>

<joint name="Rev169" type="continuous">
  <origin rpy="0 0 0" xyz="-0.010942 0.010942 0.0"/>
  <parent link="FL_Roller2"/>
  <child link="FL_Wheel2"/>
  <axis xyz="-0.707107 0.707107 0.0"/>
</joint>
<transmission name="Rev169_tran">
  <type>transmission_interface/SimpleTransmission</type>
  <joint name="Rev169">
    <hardwareInterface>PositionJointInterface</hardwareInterface>
  </joint>
  <actuator name="Rev169_actr">
    <hardwareInterface>PositionJointInterface</hardwareInterface>
    <mechanicalReduction>1</mechanicalReduction>
  </actuator>
</transmission>

<joint name="Rev170" type="continuous">
  <origin rpy="0 0 0" xyz="-0.010942 0.007737 0.007737"/>
  <parent link="FL_Roller3"/>
  <child link="FL_Wheel3"/>
  <axis xyz="-0.707107 0.5 0.5"/>
</joint>
<transmission name="Rev170_tran">
  <type>transmission_interface/SimpleTransmission</type>
  <joint name="Rev170">
    <hardwareInterface>PositionJointInterface</hardwareInterface>
  </joint>
  <actuator name="Rev170_actr">
    <hardwareInterface>PositionJointInterface</hardwareInterface>
    <mechanicalReduction>1</mechanicalReduction>
  </actuator>
</transmission>

<joint name="Rev171" type="continuous">
  <origin rpy="0 0 0" xyz="-0.010942 0.0 0.010942"/>
  <parent link="FL_Roller4"/>
  <child link="FL_Wheel4"/>
  <axis xyz="-0.707107 -0.0 0.707107"/>
</joint>
<transmission name="Rev171_tran">
  <type>transmission_interface/SimpleTransmission</type>
  <joint name="Rev171">
    <hardwareInterface>PositionJointInterface</hardwareInterface>
  </joint>
  <actuator name="Rev171_actr">
    <hardwareInterface>PositionJointInterface</hardwareInterface>
    <mechanicalReduction>1</mechanicalReduction>
  </actuator>
</transmission>

<joint name="Rev172" type="continuous">
  <origin rpy="0 0 0" xyz="-0.010942 -0.007737 0.007737"/>
  <parent link="FL_Roller5"/>
  <child link="FL_Wheel5"/>
  <axis xyz="-0.707107 -0.5 0.5"/>
</joint>
<transmission name="Rev172_tran">
  <type>transmission_interface/SimpleTransmission</type>
  <joint name="Rev172">
    <hardwareInterface>PositionJointInterface</hardwareInterface>
  </joint>
  <actuator name="Rev172_actr">
    <hardwareInterface>PositionJointInterface</hardwareInterface>
    <mechanicalReduction>1</mechanicalReduction>
  </actuator>
</transmission>

<joint name="Rev173" type="continuous">
  <origin rpy="0 0 0" xyz="-0.010942 -0.010942 0.0"/>
  <parent link="FL_Roller6"/>
  <child link="FL_Wheel6"/>
  <axis xyz="-0.707107 -0.707107 -0.0"/>
</joint>
<transmission name="Rev173_tran">
  <type>transmission_interface/SimpleTransmission</type>
  <joint name="Rev173">
    <hardwareInterface>PositionJointInterface</hardwareInterface>
  </joint>
  <actuator name="Rev173_actr">
    <hardwareInterface>PositionJointInterface</hardwareInterface>
    <mechanicalReduction>1</mechanicalReduction>
  </actuator>
</transmission>

<joint name="Rev174" type="continuous">
  <origin rpy="0 0 0" xyz="-0.010942 -0.007737 -0.007737"/>
  <parent link="FL_Roller7"/>
  <child link="FL_Wheel7"/>
  <axis xyz="-0.707107 -0.5 -0.5"/>
</joint>
<transmission name="Rev174_tran">
  <type>transmission_interface/SimpleTransmission</type>
  <joint name="Rev174">
    <hardwareInterface>PositionJointInterface</hardwareInterface>
  </joint>
  <actuator name="Rev174_actr">
    <hardwareInterface>PositionJointInterface</hardwareInterface>
    <mechanicalReduction>1</mechanicalReduction>
  </actuator>
</transmission>

<joint name="Rev175" type="continuous">
  <origin rpy="0 0 0" xyz="-0.010942 0.0 -0.010942"/>
  <parent link="FL_Roller8"/>
  <child link="FL_Wheel8"/>
  <axis xyz="-0.707107 0.0 -0.707107"/>
</joint>
<transmission name="Rev175_tran">
  <type>transmission_interface/SimpleTransmission</type>
  <joint name="Rev175">
    <hardwareInterface>PositionJointInterface</hardwareInterface>
  </joint>
  <actuator name="Rev175_actr">
    <hardwareInterface>PositionJointInterface</hardwareInterface>
    <mechanicalReduction>1</mechanicalReduction>
  </actuator>
</transmission>

</robot>
